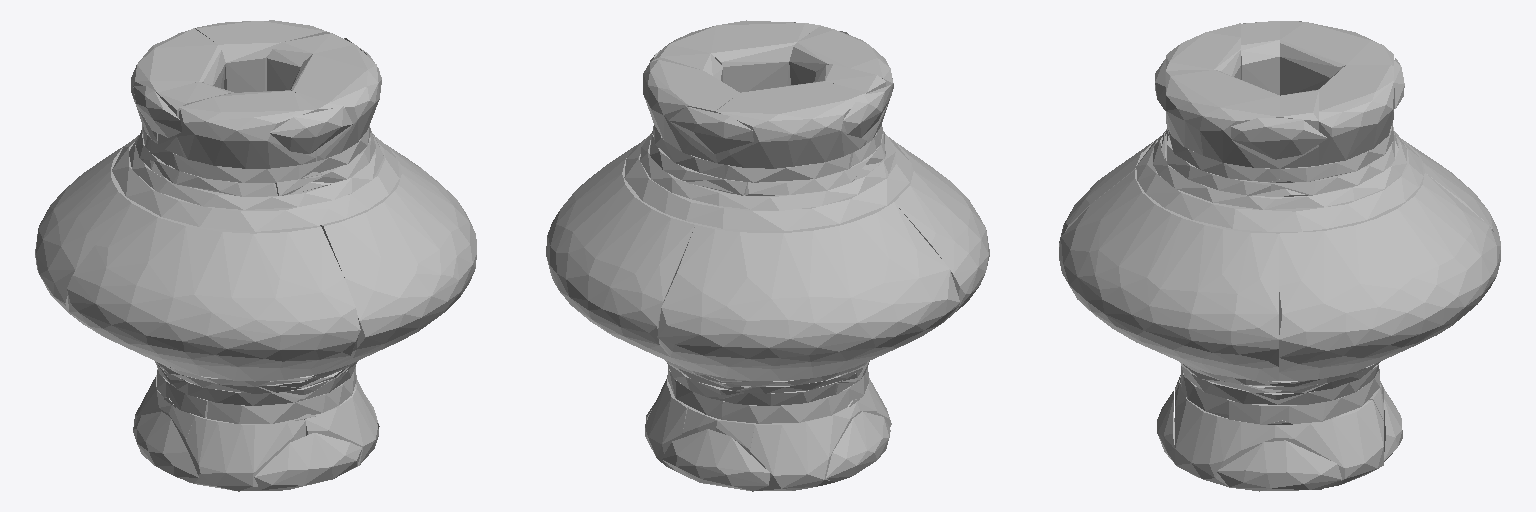
--- Facts derived from the render (not from the file) ---
3 views of the same robot in one strip: view 1: azimuth 30°, elevation 25°; view 2: azimuth 150°, elevation 25°; view 3: azimuth 270°, elevation 25° (orthographic).
Model root with 77 links and 76 joints (76 fixed), rooted at link_Vase_W_Hole_convex_piece_0, posed every joint at zero.
Visible links, largest first — view 1: link_Vase_W_Hole_convex_piece_56, link_Vase_W_Hole_convex_piece_55, link_Vase_W_Hole_convex_piece_11, link_Vase_W_Hole_convex_piece_66, link_Vase_W_Hole_convex_piece_54, link_Vase_W_Hole_convex_piece_37, link_Vase_W_Hole_convex_piece_21, link_Vase_W_Hole_convex_piece_8, link_Vase_W_Hole_convex_piece_20, link_Vase_W_Hole_convex_piece_65, link_Vase_W_Hole_convex_piece_76, link_Vase_W_Hole_convex_piece_35 (+15 smaller); view 2: link_Vase_W_Hole_convex_piece_54, link_Vase_W_Hole_convex_piece_53, link_Vase_W_Hole_convex_piece_20, link_Vase_W_Hole_convex_piece_66, link_Vase_W_Hole_convex_piece_56, link_Vase_W_Hole_convex_piece_21, link_Vase_W_Hole_convex_piece_33, link_Vase_W_Hole_convex_piece_8, link_Vase_W_Hole_convex_piece_61, link_Vase_W_Hole_convex_piece_65, link_Vase_W_Hole_convex_piece_11, link_Vase_W_Hole_convex_piece_75 (+16 smaller); view 3: link_Vase_W_Hole_convex_piece_53, link_Vase_W_Hole_convex_piece_55, link_Vase_W_Hole_convex_piece_21, link_Vase_W_Hole_convex_piece_66, link_Vase_W_Hole_convex_piece_8, link_Vase_W_Hole_convex_piece_20, link_Vase_W_Hole_convex_piece_30, link_Vase_W_Hole_convex_piece_71, link_Vase_W_Hole_convex_piece_35, link_Vase_W_Hole_convex_piece_65, link_Vase_W_Hole_convex_piece_50, link_Vase_W_Hole_convex_piece_11 (+18 smaller).
Boxes of the visible links, left/top/right/bottom form: link_Vase_W_Hole_convex_piece_56: left=67, top=202, right=360, bottom=381; link_Vase_W_Hole_convex_piece_55: left=315, top=146, right=476, bottom=374; link_Vase_W_Hole_convex_piece_11: left=177, top=90, right=316, bottom=168; link_Vase_W_Hole_convex_piece_66: left=112, top=135, right=399, bottom=231; link_Vase_W_Hole_convex_piece_54: left=35, top=144, right=133, bottom=321; link_Vase_W_Hole_convex_piece_37: left=186, top=416, right=305, bottom=491; link_Vase_W_Hole_convex_piece_21: left=290, top=45, right=381, bottom=160; link_Vase_W_Hole_convex_piece_8: left=195, top=20, right=332, bottom=92; link_Vase_W_Hole_convex_piece_20: left=131, top=28, right=225, bottom=143; link_Vase_W_Hole_convex_piece_65: left=129, top=133, right=383, bottom=209; link_Vase_W_Hole_convex_piece_76: left=254, top=433, right=361, bottom=490; link_Vase_W_Hole_convex_piece_35: left=304, top=380, right=378, bottom=470; link_Vase_W_Hole_convex_piece_54: left=657, top=202, right=959, bottom=380; link_Vase_W_Hole_convex_piece_53: left=546, top=143, right=700, bottom=372; link_Vase_W_Hole_convex_piece_20: left=716, top=81, right=866, bottom=168; link_Vase_W_Hole_convex_piece_66: left=624, top=135, right=911, bottom=231; link_Vase_W_Hole_convex_piece_56: left=891, top=141, right=989, bottom=322; link_Vase_W_Hole_convex_piece_21: left=670, top=20, right=820, bottom=92; link_Vase_W_Hole_convex_piece_33: left=750, top=402, right=859, bottom=491; link_Vase_W_Hole_convex_piece_8: left=643, top=60, right=739, bottom=162; link_Vase_W_Hole_convex_piece_61: left=661, top=429, right=769, bottom=490; link_Vase_W_Hole_convex_piece_65: left=640, top=133, right=895, bottom=210; link_Vase_W_Hole_convex_piece_11: left=789, top=26, right=893, bottom=128; link_Vase_W_Hole_convex_piece_75: left=826, top=411, right=890, bottom=481; link_Vase_W_Hole_convex_piece_53: left=1279, top=172, right=1500, bottom=380; link_Vase_W_Hole_convex_piece_55: left=1059, top=170, right=1278, bottom=380; link_Vase_W_Hole_convex_piece_21: left=1166, top=70, right=1279, bottom=168; link_Vase_W_Hole_convex_piece_66: left=1136, top=136, right=1423, bottom=231; link_Vase_W_Hole_convex_piece_8: left=1319, top=65, right=1393, bottom=164; link_Vase_W_Hole_convex_piece_20: left=1280, top=21, right=1393, bottom=95; link_Vase_W_Hole_convex_piece_30: left=1275, top=400, right=1383, bottom=487; link_Vase_W_Hole_convex_piece_71: left=1217, top=440, right=1341, bottom=491; link_Vase_W_Hole_convex_piece_35: left=1175, top=383, right=1240, bottom=488; link_Vase_W_Hole_convex_piece_65: left=1153, top=131, right=1406, bottom=209; link_Vase_W_Hole_convex_piece_50: left=1231, top=118, right=1327, bottom=159; link_Vase_W_Hole_convex_piece_11: left=1166, top=23, right=1240, bottom=79.
Size in the robot's own frame: 0.0812 by 0.0812 by 0.0765 metres.
Meshes: 77 distinct files referenced, 77 mesh visuals loaded (77 OBJ).

The robot description file, URDF, robot "root":
<robot name="root">
  <link name="link_Vase_W_Hole_convex_piece_0">
    <inertial>
      <origin xyz="0 0 0" rpy="0 0 0"/>
      <mass value="8.44E-04"/>
      <inertia ixx="5.04E-07" ixy="-3.55E-08" ixz="-1.19E-07" iyy="4.81E-07" iyz="-1.74E-07" izz="1.88E-07"/>
    </inertial>
    <visual>
      <origin xyz="0 0 0" rpy="0 0 0"/>
      <geometry>
        <mesh filename="Vase_W_Hole_convex_piece_0.obj" scale="1.0000E+00 1.0000E+00 1.0000E+00"/>
      </geometry>
      <material name="">
        <color rgba="7.50E-01 7.50E-01 7.50E-01 1"/>
      </material>
    </visual>
    <collision>
      <origin xyz="0 0 0" rpy="0 0 0"/>
      <geometry>
        <mesh filename="Vase_W_Hole_convex_piece_0.obj" scale="1.0000E+00 1.0000E+00 1.0000E+00"/>
      </geometry>
    </collision>
  </link>
  <link name="link_Vase_W_Hole_convex_piece_1">
    <inertial>
      <origin xyz="0 0 0" rpy="0 0 0"/>
      <mass value="7.55E-04"/>
      <inertia ixx="4.61E-07" ixy="3.69E-08" ixz="-9.77E-08" iyy="4.24E-07" iyz="1.74E-07" izz="1.72E-07"/>
    </inertial>
    <visual>
      <origin xyz="0 0 0" rpy="0 0 0"/>
      <geometry>
        <mesh filename="Vase_W_Hole_convex_piece_1.obj" scale="1.0000E+00 1.0000E+00 1.0000E+00"/>
      </geometry>
      <material name="">
        <color rgba="7.50E-01 7.50E-01 7.50E-01 1"/>
      </material>
    </visual>
    <collision>
      <origin xyz="0 0 0" rpy="0 0 0"/>
      <geometry>
        <mesh filename="Vase_W_Hole_convex_piece_1.obj" scale="1.0000E+00 1.0000E+00 1.0000E+00"/>
      </geometry>
    </collision>
  </link>
  <joint name="link_Vase_W_Hole_convex_piece_1_joint" type="fixed">
    <origin xyz="0 0 0" rpy="0 0 0"/>
    <parent link="link_Vase_W_Hole_convex_piece_0"/>
    <child link="link_Vase_W_Hole_convex_piece_1"/>
  </joint>
  <link name="link_Vase_W_Hole_convex_piece_2">
    <inertial>
      <origin xyz="0 0 0" rpy="0 0 0"/>
      <mass value="8.10E-04"/>
      <inertia ixx="3.17E-07" ixy="-4.43E-08" ixz="1.46E-07" iyy="3.54E-07" iyz="9.38E-08" izz="1.94E-07"/>
    </inertial>
    <visual>
      <origin xyz="0 0 0" rpy="0 0 0"/>
      <geometry>
        <mesh filename="Vase_W_Hole_convex_piece_2.obj" scale="1.0000E+00 1.0000E+00 1.0000E+00"/>
      </geometry>
      <material name="">
        <color rgba="7.50E-01 7.50E-01 7.50E-01 1"/>
      </material>
    </visual>
    <collision>
      <origin xyz="0 0 0" rpy="0 0 0"/>
      <geometry>
        <mesh filename="Vase_W_Hole_convex_piece_2.obj" scale="1.0000E+00 1.0000E+00 1.0000E+00"/>
      </geometry>
    </collision>
  </link>
  <joint name="link_Vase_W_Hole_convex_piece_2_joint" type="fixed">
    <origin xyz="0 0 0" rpy="0 0 0"/>
    <parent link="link_Vase_W_Hole_convex_piece_1"/>
    <child link="link_Vase_W_Hole_convex_piece_2"/>
  </joint>
  <link name="link_Vase_W_Hole_convex_piece_3">
    <inertial>
      <origin xyz="0 0 0" rpy="0 0 0"/>
      <mass value="8.32E-04"/>
      <inertia ixx="3.29E-07" ixy="4.44E-08" ixz="-1.44E-07" iyy="3.58E-07" iyz="1.00E-07" izz="1.98E-07"/>
    </inertial>
    <visual>
      <origin xyz="0 0 0" rpy="0 0 0"/>
      <geometry>
        <mesh filename="Vase_W_Hole_convex_piece_3.obj" scale="1.0000E+00 1.0000E+00 1.0000E+00"/>
      </geometry>
      <material name="">
        <color rgba="7.50E-01 7.50E-01 7.50E-01 1"/>
      </material>
    </visual>
    <collision>
      <origin xyz="0 0 0" rpy="0 0 0"/>
      <geometry>
        <mesh filename="Vase_W_Hole_convex_piece_3.obj" scale="1.0000E+00 1.0000E+00 1.0000E+00"/>
      </geometry>
    </collision>
  </link>
  <joint name="link_Vase_W_Hole_convex_piece_3_joint" type="fixed">
    <origin xyz="0 0 0" rpy="0 0 0"/>
    <parent link="link_Vase_W_Hole_convex_piece_2"/>
    <child link="link_Vase_W_Hole_convex_piece_3"/>
  </joint>
  <link name="link_Vase_W_Hole_convex_piece_4">
    <inertial>
      <origin xyz="0 0 0" rpy="0 0 0"/>
      <mass value="1.87E-03"/>
      <inertia ixx="8.79E-07" ixy="-1.06E-09" ixz="-4.22E-09" iyy="8.86E-07" iyz="6.36E-09" izz="3.57E-07"/>
    </inertial>
    <visual>
      <origin xyz="0 0 0" rpy="0 0 0"/>
      <geometry>
        <mesh filename="Vase_W_Hole_convex_piece_4.obj" scale="1.0000E+00 1.0000E+00 1.0000E+00"/>
      </geometry>
      <material name="">
        <color rgba="7.50E-01 7.50E-01 7.50E-01 1"/>
      </material>
    </visual>
    <collision>
      <origin xyz="0 0 0" rpy="0 0 0"/>
      <geometry>
        <mesh filename="Vase_W_Hole_convex_piece_4.obj" scale="1.0000E+00 1.0000E+00 1.0000E+00"/>
      </geometry>
    </collision>
  </link>
  <joint name="link_Vase_W_Hole_convex_piece_4_joint" type="fixed">
    <origin xyz="0 0 0" rpy="0 0 0"/>
    <parent link="link_Vase_W_Hole_convex_piece_3"/>
    <child link="link_Vase_W_Hole_convex_piece_4"/>
  </joint>
  <link name="link_Vase_W_Hole_convex_piece_5">
    <inertial>
      <origin xyz="0 0 0" rpy="0 0 0"/>
      <mass value="2.19E-05"/>
      <inertia ixx="1.59E-08" ixy="-1.87E-10" ixz="-1.84E-10" iyy="8.58E-09" iyz="-7.93E-09" izz="8.03E-09"/>
    </inertial>
    <visual>
      <origin xyz="0 0 0" rpy="0 0 0"/>
      <geometry>
        <mesh filename="Vase_W_Hole_convex_piece_5.obj" scale="1.0000E+00 1.0000E+00 1.0000E+00"/>
      </geometry>
      <material name="">
        <color rgba="7.50E-01 7.50E-01 7.50E-01 1"/>
      </material>
    </visual>
    <collision>
      <origin xyz="0 0 0" rpy="0 0 0"/>
      <geometry>
        <mesh filename="Vase_W_Hole_convex_piece_5.obj" scale="1.0000E+00 1.0000E+00 1.0000E+00"/>
      </geometry>
    </collision>
  </link>
  <joint name="link_Vase_W_Hole_convex_piece_5_joint" type="fixed">
    <origin xyz="0 0 0" rpy="0 0 0"/>
    <parent link="link_Vase_W_Hole_convex_piece_4"/>
    <child link="link_Vase_W_Hole_convex_piece_5"/>
  </joint>
  <link name="link_Vase_W_Hole_convex_piece_6">
    <inertial>
      <origin xyz="0 0 0" rpy="0 0 0"/>
      <mass value="7.42E-04"/>
      <inertia ixx="4.57E-07" ixy="6.72E-10" ixz="-1.57E-09" iyy="4.14E-07" iyz="1.78E-07" izz="1.50E-07"/>
    </inertial>
    <visual>
      <origin xyz="0 0 0" rpy="0 0 0"/>
      <geometry>
        <mesh filename="Vase_W_Hole_convex_piece_6.obj" scale="1.0000E+00 1.0000E+00 1.0000E+00"/>
      </geometry>
      <material name="">
        <color rgba="7.50E-01 7.50E-01 7.50E-01 1"/>
      </material>
    </visual>
    <collision>
      <origin xyz="0 0 0" rpy="0 0 0"/>
      <geometry>
        <mesh filename="Vase_W_Hole_convex_piece_6.obj" scale="1.0000E+00 1.0000E+00 1.0000E+00"/>
      </geometry>
    </collision>
  </link>
  <joint name="link_Vase_W_Hole_convex_piece_6_joint" type="fixed">
    <origin xyz="0 0 0" rpy="0 0 0"/>
    <parent link="link_Vase_W_Hole_convex_piece_5"/>
    <child link="link_Vase_W_Hole_convex_piece_6"/>
  </joint>
  <link name="link_Vase_W_Hole_convex_piece_7">
    <inertial>
      <origin xyz="0 0 0" rpy="0 0 0"/>
      <mass value="1.60E-03"/>
      <inertia ixx="8.81E-07" ixy="-3.43E-10" ixz="4.03E-10" iyy="9.24E-07" iyz="-1.78E-07" izz="2.52E-07"/>
    </inertial>
    <visual>
      <origin xyz="0 0 0" rpy="0 0 0"/>
      <geometry>
        <mesh filename="Vase_W_Hole_convex_piece_7.obj" scale="1.0000E+00 1.0000E+00 1.0000E+00"/>
      </geometry>
      <material name="">
        <color rgba="7.50E-01 7.50E-01 7.50E-01 1"/>
      </material>
    </visual>
    <collision>
      <origin xyz="0 0 0" rpy="0 0 0"/>
      <geometry>
        <mesh filename="Vase_W_Hole_convex_piece_7.obj" scale="1.0000E+00 1.0000E+00 1.0000E+00"/>
      </geometry>
    </collision>
  </link>
  <joint name="link_Vase_W_Hole_convex_piece_7_joint" type="fixed">
    <origin xyz="0 0 0" rpy="0 0 0"/>
    <parent link="link_Vase_W_Hole_convex_piece_6"/>
    <child link="link_Vase_W_Hole_convex_piece_7"/>
  </joint>
  <link name="link_Vase_W_Hole_convex_piece_8">
    <inertial>
      <origin xyz="0 0 0" rpy="0 0 0"/>
      <mass value="1.74E-03"/>
      <inertia ixx="2.05E-06" ixy="-1.79E-07" ixz="-4.49E-07" iyy="1.88E-06" iyz="-7.28E-07" izz="5.07E-07"/>
    </inertial>
    <visual>
      <origin xyz="0 0 0" rpy="0 0 0"/>
      <geometry>
        <mesh filename="Vase_W_Hole_convex_piece_8.obj" scale="1.0000E+00 1.0000E+00 1.0000E+00"/>
      </geometry>
      <material name="">
        <color rgba="7.50E-01 7.50E-01 7.50E-01 1"/>
      </material>
    </visual>
    <collision>
      <origin xyz="0 0 0" rpy="0 0 0"/>
      <geometry>
        <mesh filename="Vase_W_Hole_convex_piece_8.obj" scale="1.0000E+00 1.0000E+00 1.0000E+00"/>
      </geometry>
    </collision>
  </link>
  <joint name="link_Vase_W_Hole_convex_piece_8_joint" type="fixed">
    <origin xyz="0 0 0" rpy="0 0 0"/>
    <parent link="link_Vase_W_Hole_convex_piece_7"/>
    <child link="link_Vase_W_Hole_convex_piece_8"/>
  </joint>
  <link name="link_Vase_W_Hole_convex_piece_9">
    <inertial>
      <origin xyz="0 0 0" rpy="0 0 0"/>
      <mass value="6.96E-04"/>
      <inertia ixx="6.90E-07" ixy="-3.64E-08" ixz="-3.11E-07" iyy="8.31E-07" iyz="-8.00E-08" izz="1.66E-07"/>
    </inertial>
    <visual>
      <origin xyz="0 0 0" rpy="0 0 0"/>
      <geometry>
        <mesh filename="Vase_W_Hole_convex_piece_9.obj" scale="1.0000E+00 1.0000E+00 1.0000E+00"/>
      </geometry>
      <material name="">
        <color rgba="7.50E-01 7.50E-01 7.50E-01 1"/>
      </material>
    </visual>
    <collision>
      <origin xyz="0 0 0" rpy="0 0 0"/>
      <geometry>
        <mesh filename="Vase_W_Hole_convex_piece_9.obj" scale="1.0000E+00 1.0000E+00 1.0000E+00"/>
      </geometry>
    </collision>
  </link>
  <joint name="link_Vase_W_Hole_convex_piece_9_joint" type="fixed">
    <origin xyz="0 0 0" rpy="0 0 0"/>
    <parent link="link_Vase_W_Hole_convex_piece_8"/>
    <child link="link_Vase_W_Hole_convex_piece_9"/>
  </joint>
  <link name="link_Vase_W_Hole_convex_piece_10">
    <inertial>
      <origin xyz="0 0 0" rpy="0 0 0"/>
      <mass value="6.98E-04"/>
      <inertia ixx="6.92E-07" ixy="-3.66E-08" ixz="3.13E-07" iyy="8.34E-07" iyz="8.03E-08" izz="1.67E-07"/>
    </inertial>
    <visual>
      <origin xyz="0 0 0" rpy="0 0 0"/>
      <geometry>
        <mesh filename="Vase_W_Hole_convex_piece_10.obj" scale="1.0000E+00 1.0000E+00 1.0000E+00"/>
      </geometry>
      <material name="">
        <color rgba="7.50E-01 7.50E-01 7.50E-01 1"/>
      </material>
    </visual>
    <collision>
      <origin xyz="0 0 0" rpy="0 0 0"/>
      <geometry>
        <mesh filename="Vase_W_Hole_convex_piece_10.obj" scale="1.0000E+00 1.0000E+00 1.0000E+00"/>
      </geometry>
    </collision>
  </link>
  <joint name="link_Vase_W_Hole_convex_piece_10_joint" type="fixed">
    <origin xyz="0 0 0" rpy="0 0 0"/>
    <parent link="link_Vase_W_Hole_convex_piece_9"/>
    <child link="link_Vase_W_Hole_convex_piece_10"/>
  </joint>
  <link name="link_Vase_W_Hole_convex_piece_11">
    <inertial>
      <origin xyz="0 0 0" rpy="0 0 0"/>
      <mass value="1.73E-03"/>
      <inertia ixx="2.04E-06" ixy="-1.81E-07" ixz="4.53E-07" iyy="1.87E-06" iyz="7.25E-07" izz="5.08E-07"/>
    </inertial>
    <visual>
      <origin xyz="0 0 0" rpy="0 0 0"/>
      <geometry>
        <mesh filename="Vase_W_Hole_convex_piece_11.obj" scale="1.0000E+00 1.0000E+00 1.0000E+00"/>
      </geometry>
      <material name="">
        <color rgba="7.50E-01 7.50E-01 7.50E-01 1"/>
      </material>
    </visual>
    <collision>
      <origin xyz="0 0 0" rpy="0 0 0"/>
      <geometry>
        <mesh filename="Vase_W_Hole_convex_piece_11.obj" scale="1.0000E+00 1.0000E+00 1.0000E+00"/>
      </geometry>
    </collision>
  </link>
  <joint name="link_Vase_W_Hole_convex_piece_11_joint" type="fixed">
    <origin xyz="0 0 0" rpy="0 0 0"/>
    <parent link="link_Vase_W_Hole_convex_piece_10"/>
    <child link="link_Vase_W_Hole_convex_piece_11"/>
  </joint>
  <link name="link_Vase_W_Hole_convex_piece_12">
    <inertial>
      <origin xyz="0 0 0" rpy="0 0 0"/>
      <mass value="7.12E-04"/>
      <inertia ixx="4.01E-07" ixy="4.83E-10" ixz="2.02E-07" iyy="4.67E-07" iyz="-1.14E-09" izz="1.97E-07"/>
    </inertial>
    <visual>
      <origin xyz="0 0 0" rpy="0 0 0"/>
      <geometry>
        <mesh filename="Vase_W_Hole_convex_piece_12.obj" scale="1.0000E+00 1.0000E+00 1.0000E+00"/>
      </geometry>
      <material name="">
        <color rgba="7.50E-01 7.50E-01 7.50E-01 1"/>
      </material>
    </visual>
    <collision>
      <origin xyz="0 0 0" rpy="0 0 0"/>
      <geometry>
        <mesh filename="Vase_W_Hole_convex_piece_12.obj" scale="1.0000E+00 1.0000E+00 1.0000E+00"/>
      </geometry>
    </collision>
  </link>
  <joint name="link_Vase_W_Hole_convex_piece_12_joint" type="fixed">
    <origin xyz="0 0 0" rpy="0 0 0"/>
    <parent link="link_Vase_W_Hole_convex_piece_11"/>
    <child link="link_Vase_W_Hole_convex_piece_12"/>
  </joint>
  <link name="link_Vase_W_Hole_convex_piece_13">
    <inertial>
      <origin xyz="0 0 0" rpy="0 0 0"/>
      <mass value="8.33E-04"/>
      <inertia ixx="3.93E-07" ixy="-2.53E-10" ixz="-6.26E-11" iyy="3.32E-07" iyz="-1.81E-07" izz="2.36E-07"/>
    </inertial>
    <visual>
      <origin xyz="0 0 0" rpy="0 0 0"/>
      <geometry>
        <mesh filename="Vase_W_Hole_convex_piece_13.obj" scale="1.0000E+00 1.0000E+00 1.0000E+00"/>
      </geometry>
      <material name="">
        <color rgba="7.50E-01 7.50E-01 7.50E-01 1"/>
      </material>
    </visual>
    <collision>
      <origin xyz="0 0 0" rpy="0 0 0"/>
      <geometry>
        <mesh filename="Vase_W_Hole_convex_piece_13.obj" scale="1.0000E+00 1.0000E+00 1.0000E+00"/>
      </geometry>
    </collision>
  </link>
  <joint name="link_Vase_W_Hole_convex_piece_13_joint" type="fixed">
    <origin xyz="0 0 0" rpy="0 0 0"/>
    <parent link="link_Vase_W_Hole_convex_piece_12"/>
    <child link="link_Vase_W_Hole_convex_piece_13"/>
  </joint>
  <link name="link_Vase_W_Hole_convex_piece_14">
    <inertial>
      <origin xyz="0 0 0" rpy="0 0 0"/>
      <mass value="4.10E-06"/>
      <inertia ixx="1.57E-09" ixy="-9.29E-11" ixz="1.50E-09" iyy="3.00E-09" iyz="9.41E-11" izz="1.52E-09"/>
    </inertial>
    <visual>
      <origin xyz="0 0 0" rpy="0 0 0"/>
      <geometry>
        <mesh filename="Vase_W_Hole_convex_piece_14.obj" scale="1.0000E+00 1.0000E+00 1.0000E+00"/>
      </geometry>
      <material name="">
        <color rgba="7.50E-01 7.50E-01 7.50E-01 1"/>
      </material>
    </visual>
    <collision>
      <origin xyz="0 0 0" rpy="0 0 0"/>
      <geometry>
        <mesh filename="Vase_W_Hole_convex_piece_14.obj" scale="1.0000E+00 1.0000E+00 1.0000E+00"/>
      </geometry>
    </collision>
  </link>
  <joint name="link_Vase_W_Hole_convex_piece_14_joint" type="fixed">
    <origin xyz="0 0 0" rpy="0 0 0"/>
    <parent link="link_Vase_W_Hole_convex_piece_13"/>
    <child link="link_Vase_W_Hole_convex_piece_14"/>
  </joint>
  <link name="link_Vase_W_Hole_convex_piece_15">
    <inertial>
      <origin xyz="0 0 0" rpy="0 0 0"/>
      <mass value="8.77E-07"/>
      <inertia ixx="7.09E-10" ixy="-4.58E-12" ixz="-5.55E-12" iyy="4.21E-10" iyz="-3.48E-10" izz="2.94E-10"/>
    </inertial>
    <visual>
      <origin xyz="0 0 0" rpy="0 0 0"/>
      <geometry>
        <mesh filename="Vase_W_Hole_convex_piece_15.obj" scale="1.0000E+00 1.0000E+00 1.0000E+00"/>
      </geometry>
      <material name="">
        <color rgba="7.50E-01 7.50E-01 7.50E-01 1"/>
      </material>
    </visual>
    <collision>
      <origin xyz="0 0 0" rpy="0 0 0"/>
      <geometry>
        <mesh filename="Vase_W_Hole_convex_piece_15.obj" scale="1.0000E+00 1.0000E+00 1.0000E+00"/>
      </geometry>
    </collision>
  </link>
  <joint name="link_Vase_W_Hole_convex_piece_15_joint" type="fixed">
    <origin xyz="0 0 0" rpy="0 0 0"/>
    <parent link="link_Vase_W_Hole_convex_piece_14"/>
    <child link="link_Vase_W_Hole_convex_piece_15"/>
  </joint>
  <link name="link_Vase_W_Hole_convex_piece_16">
    <inertial>
      <origin xyz="0 0 0" rpy="0 0 0"/>
      <mass value="2.63E-04"/>
      <inertia ixx="1.76E-07" ixy="1.24E-08" ixz="8.67E-08" iyy="2.16E-07" iyz="-2.54E-08" izz="5.26E-08"/>
    </inertial>
    <visual>
      <origin xyz="0 0 0" rpy="0 0 0"/>
      <geometry>
        <mesh filename="Vase_W_Hole_convex_piece_16.obj" scale="1.0000E+00 1.0000E+00 1.0000E+00"/>
      </geometry>
      <material name="">
        <color rgba="7.50E-01 7.50E-01 7.50E-01 1"/>
      </material>
    </visual>
    <collision>
      <origin xyz="0 0 0" rpy="0 0 0"/>
      <geometry>
        <mesh filename="Vase_W_Hole_convex_piece_16.obj" scale="1.0000E+00 1.0000E+00 1.0000E+00"/>
      </geometry>
    </collision>
  </link>
  <joint name="link_Vase_W_Hole_convex_piece_16_joint" type="fixed">
    <origin xyz="0 0 0" rpy="0 0 0"/>
    <parent link="link_Vase_W_Hole_convex_piece_15"/>
    <child link="link_Vase_W_Hole_convex_piece_16"/>
  </joint>
  <link name="link_Vase_W_Hole_convex_piece_17">
    <inertial>
      <origin xyz="0 0 0" rpy="0 0 0"/>
      <mass value="2.42E-05"/>
      <inertia ixx="1.72E-08" ixy="1.08E-09" ixz="3.36E-09" iyy="1.64E-08" iyz="-5.04E-09" izz="2.41E-09"/>
    </inertial>
    <visual>
      <origin xyz="0 0 0" rpy="0 0 0"/>
      <geometry>
        <mesh filename="Vase_W_Hole_convex_piece_17.obj" scale="1.0000E+00 1.0000E+00 1.0000E+00"/>
      </geometry>
      <material name="">
        <color rgba="7.50E-01 7.50E-01 7.50E-01 1"/>
      </material>
    </visual>
    <collision>
      <origin xyz="0 0 0" rpy="0 0 0"/>
      <geometry>
        <mesh filename="Vase_W_Hole_convex_piece_17.obj" scale="1.0000E+00 1.0000E+00 1.0000E+00"/>
      </geometry>
    </collision>
  </link>
  <joint name="link_Vase_W_Hole_convex_piece_17_joint" type="fixed">
    <origin xyz="0 0 0" rpy="0 0 0"/>
    <parent link="link_Vase_W_Hole_convex_piece_16"/>
    <child link="link_Vase_W_Hole_convex_piece_17"/>
  </joint>
  <link name="link_Vase_W_Hole_convex_piece_18">
    <inertial>
      <origin xyz="0 0 0" rpy="0 0 0"/>
      <mass value="2.42E-05"/>
      <inertia ixx="1.73E-08" ixy="-1.08E-09" ixz="-3.38E-09" iyy="1.64E-08" iyz="-5.03E-09" izz="2.41E-09"/>
    </inertial>
    <visual>
      <origin xyz="0 0 0" rpy="0 0 0"/>
      <geometry>
        <mesh filename="Vase_W_Hole_convex_piece_18.obj" scale="1.0000E+00 1.0000E+00 1.0000E+00"/>
      </geometry>
      <material name="">
        <color rgba="7.50E-01 7.50E-01 7.50E-01 1"/>
      </material>
    </visual>
    <collision>
      <origin xyz="0 0 0" rpy="0 0 0"/>
      <geometry>
        <mesh filename="Vase_W_Hole_convex_piece_18.obj" scale="1.0000E+00 1.0000E+00 1.0000E+00"/>
      </geometry>
    </collision>
  </link>
  <joint name="link_Vase_W_Hole_convex_piece_18_joint" type="fixed">
    <origin xyz="0 0 0" rpy="0 0 0"/>
    <parent link="link_Vase_W_Hole_convex_piece_17"/>
    <child link="link_Vase_W_Hole_convex_piece_18"/>
  </joint>
  <link name="link_Vase_W_Hole_convex_piece_19">
    <inertial>
      <origin xyz="0 0 0" rpy="0 0 0"/>
      <mass value="2.62E-04"/>
      <inertia ixx="1.75E-07" ixy="-1.23E-08" ixz="-8.64E-08" iyy="2.15E-07" iyz="-2.51E-08" izz="5.24E-08"/>
    </inertial>
    <visual>
      <origin xyz="0 0 0" rpy="0 0 0"/>
      <geometry>
        <mesh filename="Vase_W_Hole_convex_piece_19.obj" scale="1.0000E+00 1.0000E+00 1.0000E+00"/>
      </geometry>
      <material name="">
        <color rgba="7.50E-01 7.50E-01 7.50E-01 1"/>
      </material>
    </visual>
    <collision>
      <origin xyz="0 0 0" rpy="0 0 0"/>
      <geometry>
        <mesh filename="Vase_W_Hole_convex_piece_19.obj" scale="1.0000E+00 1.0000E+00 1.0000E+00"/>
      </geometry>
    </collision>
  </link>
  <joint name="link_Vase_W_Hole_convex_piece_19_joint" type="fixed">
    <origin xyz="0 0 0" rpy="0 0 0"/>
    <parent link="link_Vase_W_Hole_convex_piece_18"/>
    <child link="link_Vase_W_Hole_convex_piece_19"/>
  </joint>
  <link name="link_Vase_W_Hole_convex_piece_20">
    <inertial>
      <origin xyz="0 0 0" rpy="0 0 0"/>
      <mass value="2.35E-03"/>
      <inertia ixx="2.62E-06" ixy="2.19E-07" ixz="7.85E-07" iyy="2.64E-06" iyz="-7.36E-07" izz="6.39E-07"/>
    </inertial>
    <visual>
      <origin xyz="0 0 0" rpy="0 0 0"/>
      <geometry>
        <mesh filename="Vase_W_Hole_convex_piece_20.obj" scale="1.0000E+00 1.0000E+00 1.0000E+00"/>
      </geometry>
      <material name="">
        <color rgba="7.50E-01 7.50E-01 7.50E-01 1"/>
      </material>
    </visual>
    <collision>
      <origin xyz="0 0 0" rpy="0 0 0"/>
      <geometry>
        <mesh filename="Vase_W_Hole_convex_piece_20.obj" scale="1.0000E+00 1.0000E+00 1.0000E+00"/>
      </geometry>
    </collision>
  </link>
  <joint name="link_Vase_W_Hole_convex_piece_20_joint" type="fixed">
    <origin xyz="0 0 0" rpy="0 0 0"/>
    <parent link="link_Vase_W_Hole_convex_piece_19"/>
    <child link="link_Vase_W_Hole_convex_piece_20"/>
  </joint>
  <link name="link_Vase_W_Hole_convex_piece_21">
    <inertial>
      <origin xyz="0 0 0" rpy="0 0 0"/>
      <mass value="2.38E-03"/>
      <inertia ixx="2.65E-06" ixy="2.20E-07" ixz="-7.86E-07" iyy="2.67E-06" iyz="7.47E-07" izz="6.43E-07"/>
    </inertial>
    <visual>
      <origin xyz="0 0 0" rpy="0 0 0"/>
      <geometry>
        <mesh filename="Vase_W_Hole_convex_piece_21.obj" scale="1.0000E+00 1.0000E+00 1.0000E+00"/>
      </geometry>
      <material name="">
        <color rgba="7.50E-01 7.50E-01 7.50E-01 1"/>
      </material>
    </visual>
    <collision>
      <origin xyz="0 0 0" rpy="0 0 0"/>
      <geometry>
        <mesh filename="Vase_W_Hole_convex_piece_21.obj" scale="1.0000E+00 1.0000E+00 1.0000E+00"/>
      </geometry>
    </collision>
  </link>
  <joint name="link_Vase_W_Hole_convex_piece_21_joint" type="fixed">
    <origin xyz="0 0 0" rpy="0 0 0"/>
    <parent link="link_Vase_W_Hole_convex_piece_20"/>
    <child link="link_Vase_W_Hole_convex_piece_21"/>
  </joint>
  <link name="link_Vase_W_Hole_convex_piece_22">
    <inertial>
      <origin xyz="0 0 0" rpy="0 0 0"/>
      <mass value="6.95E-04"/>
      <inertia ixx="5.01E-07" ixy="-4.55E-08" ixz="-1.40E-07" iyy="4.85E-07" iyz="-1.69E-07" izz="1.63E-07"/>
    </inertial>
    <visual>
      <origin xyz="0 0 0" rpy="0 0 0"/>
      <geometry>
        <mesh filename="Vase_W_Hole_convex_piece_22.obj" scale="1.0000E+00 1.0000E+00 1.0000E+00"/>
      </geometry>
      <material name="">
        <color rgba="7.50E-01 7.50E-01 7.50E-01 1"/>
      </material>
    </visual>
    <collision>
      <origin xyz="0 0 0" rpy="0 0 0"/>
      <geometry>
        <mesh filename="Vase_W_Hole_convex_piece_22.obj" scale="1.0000E+00 1.0000E+00 1.0000E+00"/>
      </geometry>
    </collision>
  </link>
  <joint name="link_Vase_W_Hole_convex_piece_22_joint" type="fixed">
    <origin xyz="0 0 0" rpy="0 0 0"/>
    <parent link="link_Vase_W_Hole_convex_piece_21"/>
    <child link="link_Vase_W_Hole_convex_piece_22"/>
  </joint>
  <link name="link_Vase_W_Hole_convex_piece_23">
    <inertial>
      <origin xyz="0 0 0" rpy="0 0 0"/>
      <mass value="6.91E-04"/>
      <inertia ixx="4.97E-07" ixy="4.52E-08" ixz="-1.40E-07" iyy="4.82E-07" iyz="1.67E-07" izz="1.62E-07"/>
    </inertial>
    <visual>
      <origin xyz="0 0 0" rpy="0 0 0"/>
      <geometry>
        <mesh filename="Vase_W_Hole_convex_piece_23.obj" scale="1.0000E+00 1.0000E+00 1.0000E+00"/>
      </geometry>
      <material name="">
        <color rgba="7.50E-01 7.50E-01 7.50E-01 1"/>
      </material>
    </visual>
    <collision>
      <origin xyz="0 0 0" rpy="0 0 0"/>
      <geometry>
        <mesh filename="Vase_W_Hole_convex_piece_23.obj" scale="1.0000E+00 1.0000E+00 1.0000E+00"/>
      </geometry>
    </collision>
  </link>
  <joint name="link_Vase_W_Hole_convex_piece_23_joint" type="fixed">
    <origin xyz="0 0 0" rpy="0 0 0"/>
    <parent link="link_Vase_W_Hole_convex_piece_22"/>
    <child link="link_Vase_W_Hole_convex_piece_23"/>
  </joint>
  <link name="link_Vase_W_Hole_convex_piece_24">
    <inertial>
      <origin xyz="0 0 0" rpy="0 0 0"/>
      <mass value="1.92E-06"/>
      <inertia ixx="8.46E-10" ixy="-1.84E-11" ixz="-8.62E-10" iyy="1.72E-09" iyz="-1.80E-11" izz="8.90E-10"/>
    </inertial>
    <visual>
      <origin xyz="0 0 0" rpy="0 0 0"/>
      <geometry>
        <mesh filename="Vase_W_Hole_convex_piece_24.obj" scale="1.0000E+00 1.0000E+00 1.0000E+00"/>
      </geometry>
      <material name="">
        <color rgba="7.50E-01 7.50E-01 7.50E-01 1"/>
      </material>
    </visual>
    <collision>
      <origin xyz="0 0 0" rpy="0 0 0"/>
      <geometry>
        <mesh filename="Vase_W_Hole_convex_piece_24.obj" scale="1.0000E+00 1.0000E+00 1.0000E+00"/>
      </geometry>
    </collision>
  </link>
  <joint name="link_Vase_W_Hole_convex_piece_24_joint" type="fixed">
    <origin xyz="0 0 0" rpy="0 0 0"/>
    <parent link="link_Vase_W_Hole_convex_piece_23"/>
    <child link="link_Vase_W_Hole_convex_piece_24"/>
  </joint>
  <link name="link_Vase_W_Hole_convex_piece_25">
    <inertial>
      <origin xyz="0 0 0" rpy="0 0 0"/>
      <mass value="7.88E-06"/>
      <inertia ixx="5.77E-09" ixy="3.43E-10" ixz="-2.68E-10" iyy="2.32E-09" iyz="2.80E-09" izz="3.71E-09"/>
    </inertial>
    <visual>
      <origin xyz="0 0 0" rpy="0 0 0"/>
      <geometry>
        <mesh filename="Vase_W_Hole_convex_piece_25.obj" scale="1.0000E+00 1.0000E+00 1.0000E+00"/>
      </geometry>
      <material name="">
        <color rgba="7.50E-01 7.50E-01 7.50E-01 1"/>
      </material>
    </visual>
    <collision>
      <origin xyz="0 0 0" rpy="0 0 0"/>
      <geometry>
        <mesh filename="Vase_W_Hole_convex_piece_25.obj" scale="1.0000E+00 1.0000E+00 1.0000E+00"/>
      </geometry>
    </collision>
  </link>
  <joint name="link_Vase_W_Hole_convex_piece_25_joint" type="fixed">
    <origin xyz="0 0 0" rpy="0 0 0"/>
    <parent link="link_Vase_W_Hole_convex_piece_24"/>
    <child link="link_Vase_W_Hole_convex_piece_25"/>
  </joint>
  <link name="link_Vase_W_Hole_convex_piece_26">
    <inertial>
      <origin xyz="0 0 0" rpy="0 0 0"/>
      <mass value="2.89E-06"/>
      <inertia ixx="2.10E-09" ixy="1.44E-10" ixz="-1.45E-10" iyy="1.10E-09" iyz="1.05E-09" izz="1.09E-09"/>
    </inertial>
    <visual>
      <origin xyz="0 0 0" rpy="0 0 0"/>
      <geometry>
        <mesh filename="Vase_W_Hole_convex_piece_26.obj" scale="1.0000E+00 1.0000E+00 1.0000E+00"/>
      </geometry>
      <material name="">
        <color rgba="7.50E-01 7.50E-01 7.50E-01 1"/>
      </material>
    </visual>
    <collision>
      <origin xyz="0 0 0" rpy="0 0 0"/>
      <geometry>
        <mesh filename="Vase_W_Hole_convex_piece_26.obj" scale="1.0000E+00 1.0000E+00 1.0000E+00"/>
      </geometry>
    </collision>
  </link>
  <joint name="link_Vase_W_Hole_convex_piece_26_joint" type="fixed">
    <origin xyz="0 0 0" rpy="0 0 0"/>
    <parent link="link_Vase_W_Hole_convex_piece_25"/>
    <child link="link_Vase_W_Hole_convex_piece_26"/>
  </joint>
  <link name="link_Vase_W_Hole_convex_piece_27">
    <inertial>
      <origin xyz="0 0 0" rpy="0 0 0"/>
      <mass value="8.77E-07"/>
      <inertia ixx="7.12E-10" ixy="4.60E-12" ixz="-5.55E-12" iyy="4.21E-10" iyz="3.50E-10" izz="2.97E-10"/>
    </inertial>
    <visual>
      <origin xyz="0 0 0" rpy="0 0 0"/>
      <geometry>
        <mesh filename="Vase_W_Hole_convex_piece_27.obj" scale="1.0000E+00 1.0000E+00 1.0000E+00"/>
      </geometry>
      <material name="">
        <color rgba="7.50E-01 7.50E-01 7.50E-01 1"/>
      </material>
    </visual>
    <collision>
      <origin xyz="0 0 0" rpy="0 0 0"/>
      <geometry>
        <mesh filename="Vase_W_Hole_convex_piece_27.obj" scale="1.0000E+00 1.0000E+00 1.0000E+00"/>
      </geometry>
    </collision>
  </link>
  <joint name="link_Vase_W_Hole_convex_piece_27_joint" type="fixed">
    <origin xyz="0 0 0" rpy="0 0 0"/>
    <parent link="link_Vase_W_Hole_convex_piece_26"/>
    <child link="link_Vase_W_Hole_convex_piece_27"/>
  </joint>
  <link name="link_Vase_W_Hole_convex_piece_28">
    <inertial>
      <origin xyz="0 0 0" rpy="0 0 0"/>
      <mass value="5.27E-04"/>
      <inertia ixx="3.99E-07" ixy="-3.42E-08" ixz="1.06E-07" iyy="3.85E-07" iyz="1.30E-07" izz="1.04E-07"/>
    </inertial>
    <visual>
      <origin xyz="0 0 0" rpy="0 0 0"/>
      <geometry>
        <mesh filename="Vase_W_Hole_convex_piece_28.obj" scale="1.0000E+00 1.0000E+00 1.0000E+00"/>
      </geometry>
      <material name="">
        <color rgba="7.50E-01 7.50E-01 7.50E-01 1"/>
      </material>
    </visual>
    <collision>
      <origin xyz="0 0 0" rpy="0 0 0"/>
      <geometry>
        <mesh filename="Vase_W_Hole_convex_piece_28.obj" scale="1.0000E+00 1.0000E+00 1.0000E+00"/>
      </geometry>
    </collision>
  </link>
  <joint name="link_Vase_W_Hole_convex_piece_28_joint" type="fixed">
    <origin xyz="0 0 0" rpy="0 0 0"/>
    <parent link="link_Vase_W_Hole_convex_piece_27"/>
    <child link="link_Vase_W_Hole_convex_piece_28"/>
  </joint>
  <link name="link_Vase_W_Hole_convex_piece_29">
    <inertial>
      <origin xyz="0 0 0" rpy="0 0 0"/>
      <mass value="4.52E-04"/>
      <inertia ixx="3.39E-07" ixy="3.36E-08" ixz="-1.04E-07" iyy="3.37E-07" iyz="1.08E-07" izz="9.32E-08"/>
    </inertial>
    <visual>
      <origin xyz="0 0 0" rpy="0 0 0"/>
      <geometry>
        <mesh filename="Vase_W_Hole_convex_piece_29.obj" scale="1.0000E+00 1.0000E+00 1.0000E+00"/>
      </geometry>
      <material name="">
        <color rgba="7.50E-01 7.50E-01 7.50E-01 1"/>
      </material>
    </visual>
    <collision>
      <origin xyz="0 0 0" rpy="0 0 0"/>
      <geometry>
        <mesh filename="Vase_W_Hole_convex_piece_29.obj" scale="1.0000E+00 1.0000E+00 1.0000E+00"/>
      </geometry>
    </collision>
  </link>
  <joint name="link_Vase_W_Hole_convex_piece_29_joint" type="fixed">
    <origin xyz="0 0 0" rpy="0 0 0"/>
    <parent link="link_Vase_W_Hole_convex_piece_28"/>
    <child link="link_Vase_W_Hole_convex_piece_29"/>
  </joint>
  <link name="link_Vase_W_Hole_convex_piece_30">
    <inertial>
      <origin xyz="0 0 0" rpy="0 0 0"/>
      <mass value="1.69E-03"/>
      <inertia ixx="2.12E-06" ixy="-1.63E-07" ixz="7.37E-07" iyy="2.27E-06" iyz="4.60E-07" izz="4.46E-07"/>
    </inertial>
    <visual>
      <origin xyz="0 0 0" rpy="0 0 0"/>
      <geometry>
        <mesh filename="Vase_W_Hole_convex_piece_30.obj" scale="1.0000E+00 1.0000E+00 1.0000E+00"/>
      </geometry>
      <material name="">
        <color rgba="7.50E-01 7.50E-01 7.50E-01 1"/>
      </material>
    </visual>
    <collision>
      <origin xyz="0 0 0" rpy="0 0 0"/>
      <geometry>
        <mesh filename="Vase_W_Hole_convex_piece_30.obj" scale="1.0000E+00 1.0000E+00 1.0000E+00"/>
      </geometry>
    </collision>
  </link>
  <joint name="link_Vase_W_Hole_convex_piece_30_joint" type="fixed">
    <origin xyz="0 0 0" rpy="0 0 0"/>
    <parent link="link_Vase_W_Hole_convex_piece_29"/>
    <child link="link_Vase_W_Hole_convex_piece_30"/>
  </joint>
  <link name="link_Vase_W_Hole_convex_piece_31">
    <inertial>
      <origin xyz="0 0 0" rpy="0 0 0"/>
      <mass value="6.99E-04"/>
      <inertia ixx="9.30E-07" ixy="-3.45E-08" ixz="8.80E-08" iyy="8.10E-07" iyz="3.15E-07" izz="1.46E-07"/>
    </inertial>
    <visual>
      <origin xyz="0 0 0" rpy="0 0 0"/>
      <geometry>
        <mesh filename="Vase_W_Hole_convex_piece_31.obj" scale="1.0000E+00 1.0000E+00 1.0000E+00"/>
      </geometry>
      <material name="">
        <color rgba="7.50E-01 7.50E-01 7.50E-01 1"/>
      </material>
    </visual>
    <collision>
      <origin xyz="0 0 0" rpy="0 0 0"/>
      <geometry>
        <mesh filename="Vase_W_Hole_convex_piece_31.obj" scale="1.0000E+00 1.0000E+00 1.0000E+00"/>
      </geometry>
    </collision>
  </link>
  <joint name="link_Vase_W_Hole_convex_piece_31_joint" type="fixed">
    <origin xyz="0 0 0" rpy="0 0 0"/>
    <parent link="link_Vase_W_Hole_convex_piece_30"/>
    <child link="link_Vase_W_Hole_convex_piece_31"/>
  </joint>
  <link name="link_Vase_W_Hole_convex_piece_32">
    <inertial>
      <origin xyz="0 0 0" rpy="0 0 0"/>
      <mass value="7.02E-04"/>
      <inertia ixx="9.33E-07" ixy="3.42E-08" ixz="-8.74E-08" iyy="8.12E-07" iyz="3.17E-07" izz="1.46E-07"/>
    </inertial>
    <visual>
      <origin xyz="0 0 0" rpy="0 0 0"/>
      <geometry>
        <mesh filename="Vase_W_Hole_convex_piece_32.obj" scale="1.0000E+00 1.0000E+00 1.0000E+00"/>
      </geometry>
      <material name="">
        <color rgba="7.50E-01 7.50E-01 7.50E-01 1"/>
      </material>
    </visual>
    <collision>
      <origin xyz="0 0 0" rpy="0 0 0"/>
      <geometry>
        <mesh filename="Vase_W_Hole_convex_piece_32.obj" scale="1.0000E+00 1.0000E+00 1.0000E+00"/>
      </geometry>
    </collision>
  </link>
  <joint name="link_Vase_W_Hole_convex_piece_32_joint" type="fixed">
    <origin xyz="0 0 0" rpy="0 0 0"/>
    <parent link="link_Vase_W_Hole_convex_piece_31"/>
    <child link="link_Vase_W_Hole_convex_piece_32"/>
  </joint>
  <link name="link_Vase_W_Hole_convex_piece_33">
    <inertial>
      <origin xyz="0 0 0" rpy="0 0 0"/>
      <mass value="1.67E-03"/>
      <inertia ixx="2.09E-06" ixy="1.61E-07" ixz="-7.23E-07" iyy="2.23E-06" iyz="4.56E-07" izz="4.39E-07"/>
    </inertial>
    <visual>
      <origin xyz="0 0 0" rpy="0 0 0"/>
      <geometry>
        <mesh filename="Vase_W_Hole_convex_piece_33.obj" scale="1.0000E+00 1.0000E+00 1.0000E+00"/>
      </geometry>
      <material name="">
        <color rgba="7.50E-01 7.50E-01 7.50E-01 1"/>
      </material>
    </visual>
    <collision>
      <origin xyz="0 0 0" rpy="0 0 0"/>
      <geometry>
        <mesh filename="Vase_W_Hole_convex_piece_33.obj" scale="1.0000E+00 1.0000E+00 1.0000E+00"/>
      </geometry>
    </collision>
  </link>
  <joint name="link_Vase_W_Hole_convex_piece_33_joint" type="fixed">
    <origin xyz="0 0 0" rpy="0 0 0"/>
    <parent link="link_Vase_W_Hole_convex_piece_32"/>
    <child link="link_Vase_W_Hole_convex_piece_33"/>
  </joint>
  <link name="link_Vase_W_Hole_convex_piece_34">
    <inertial>
      <origin xyz="0 0 0" rpy="0 0 0"/>
      <mass value="6.23E-04"/>
      <inertia ixx="7.24E-07" ixy="3.42E-08" ixz="2.83E-07" iyy="8.31E-07" iyz="-8.65E-08" izz="1.33E-07"/>
    </inertial>
    <visual>
      <origin xyz="0 0 0" rpy="0 0 0"/>
      <geometry>
        <mesh filename="Vase_W_Hole_convex_piece_34.obj" scale="1.0000E+00 1.0000E+00 1.0000E+00"/>
      </geometry>
      <material name="">
        <color rgba="7.50E-01 7.50E-01 7.50E-01 1"/>
      </material>
    </visual>
    <collision>
      <origin xyz="0 0 0" rpy="0 0 0"/>
      <geometry>
        <mesh filename="Vase_W_Hole_convex_piece_34.obj" scale="1.0000E+00 1.0000E+00 1.0000E+00"/>
      </geometry>
    </collision>
  </link>
  <joint name="link_Vase_W_Hole_convex_piece_34_joint" type="fixed">
    <origin xyz="0 0 0" rpy="0 0 0"/>
    <parent link="link_Vase_W_Hole_convex_piece_33"/>
    <child link="link_Vase_W_Hole_convex_piece_34"/>
  </joint>
  <link name="link_Vase_W_Hole_convex_piece_35">
    <inertial>
      <origin xyz="0 0 0" rpy="0 0 0"/>
      <mass value="1.65E-03"/>
      <inertia ixx="2.20E-06" ixy="1.66E-07" ixz="4.69E-07" iyy="2.08E-06" iyz="-7.14E-07" izz="4.40E-07"/>
    </inertial>
    <visual>
      <origin xyz="0 0 0" rpy="0 0 0"/>
      <geometry>
        <mesh filename="Vase_W_Hole_convex_piece_35.obj" scale="1.0000E+00 1.0000E+00 1.0000E+00"/>
      </geometry>
      <material name="">
        <color rgba="7.50E-01 7.50E-01 7.50E-01 1"/>
      </material>
    </visual>
    <collision>
      <origin xyz="0 0 0" rpy="0 0 0"/>
      <geometry>
        <mesh filename="Vase_W_Hole_convex_piece_35.obj" scale="1.0000E+00 1.0000E+00 1.0000E+00"/>
      </geometry>
    </collision>
  </link>
  <joint name="link_Vase_W_Hole_convex_piece_35_joint" type="fixed">
    <origin xyz="0 0 0" rpy="0 0 0"/>
    <parent link="link_Vase_W_Hole_convex_piece_34"/>
    <child link="link_Vase_W_Hole_convex_piece_35"/>
  </joint>
  <link name="link_Vase_W_Hole_convex_piece_36">
    <inertial>
      <origin xyz="0 0 0" rpy="0 0 0"/>
      <mass value="6.13E-04"/>
      <inertia ixx="7.11E-07" ixy="-3.35E-08" ixz="-2.77E-07" iyy="8.16E-07" iyz="-8.50E-08" izz="1.29E-07"/>
    </inertial>
    <visual>
      <origin xyz="0 0 0" rpy="0 0 0"/>
      <geometry>
        <mesh filename="Vase_W_Hole_convex_piece_36.obj" scale="1.0000E+00 1.0000E+00 1.0000E+00"/>
      </geometry>
      <material name="">
        <color rgba="7.50E-01 7.50E-01 7.50E-01 1"/>
      </material>
    </visual>
    <collision>
      <origin xyz="0 0 0" rpy="0 0 0"/>
      <geometry>
        <mesh filename="Vase_W_Hole_convex_piece_36.obj" scale="1.0000E+00 1.0000E+00 1.0000E+00"/>
      </geometry>
    </collision>
  </link>
  <joint name="link_Vase_W_Hole_convex_piece_36_joint" type="fixed">
    <origin xyz="0 0 0" rpy="0 0 0"/>
    <parent link="link_Vase_W_Hole_convex_piece_35"/>
    <child link="link_Vase_W_Hole_convex_piece_36"/>
  </joint>
  <link name="link_Vase_W_Hole_convex_piece_37">
    <inertial>
      <origin xyz="0 0 0" rpy="0 0 0"/>
      <mass value="1.59E-03"/>
      <inertia ixx="2.13E-06" ixy="-1.65E-07" ixz="-4.64E-07" iyy="2.00E-06" iyz="-6.88E-07" izz="4.27E-07"/>
    </inertial>
    <visual>
      <origin xyz="0 0 0" rpy="0 0 0"/>
      <geometry>
        <mesh filename="Vase_W_Hole_convex_piece_37.obj" scale="1.0000E+00 1.0000E+00 1.0000E+00"/>
      </geometry>
      <material name="">
        <color rgba="7.50E-01 7.50E-01 7.50E-01 1"/>
      </material>
    </visual>
    <collision>
      <origin xyz="0 0 0" rpy="0 0 0"/>
      <geometry>
        <mesh filename="Vase_W_Hole_convex_piece_37.obj" scale="1.0000E+00 1.0000E+00 1.0000E+00"/>
      </geometry>
    </collision>
  </link>
  <joint name="link_Vase_W_Hole_convex_piece_37_joint" type="fixed">
    <origin xyz="0 0 0" rpy="0 0 0"/>
    <parent link="link_Vase_W_Hole_convex_piece_36"/>
    <child link="link_Vase_W_Hole_convex_piece_37"/>
  </joint>
  <link name="link_Vase_W_Hole_convex_piece_38">
    <inertial>
      <origin xyz="0 0 0" rpy="0 0 0"/>
      <mass value="1.13E-03"/>
      <inertia ixx="7.83E-07" ixy="-4.27E-10" ixz="2.83E-07" iyy="8.14E-07" iyz="1.18E-09" izz="2.59E-07"/>
    </inertial>
    <visual>
      <origin xyz="0 0 0" rpy="0 0 0"/>
      <geometry>
        <mesh filename="Vase_W_Hole_convex_piece_38.obj" scale="1.0000E+00 1.0000E+00 1.0000E+00"/>
      </geometry>
      <material name="">
        <color rgba="7.50E-01 7.50E-01 7.50E-01 1"/>
      </material>
    </visual>
    <collision>
      <origin xyz="0 0 0" rpy="0 0 0"/>
      <geometry>
        <mesh filename="Vase_W_Hole_convex_piece_38.obj" scale="1.0000E+00 1.0000E+00 1.0000E+00"/>
      </geometry>
    </collision>
  </link>
  <joint name="link_Vase_W_Hole_convex_piece_38_joint" type="fixed">
    <origin xyz="0 0 0" rpy="0 0 0"/>
    <parent link="link_Vase_W_Hole_convex_piece_37"/>
    <child link="link_Vase_W_Hole_convex_piece_38"/>
  </joint>
  <link name="link_Vase_W_Hole_convex_piece_39">
    <inertial>
      <origin xyz="0 0 0" rpy="0 0 0"/>
      <mass value="1.29E-06"/>
      <inertia ixx="5.73E-10" ixy="1.84E-11" ixz="5.82E-10" iyy="1.16E-09" iyz="-1.83E-11" izz="5.99E-10"/>
    </inertial>
    <visual>
      <origin xyz="0 0 0" rpy="0 0 0"/>
      <geometry>
        <mesh filename="Vase_W_Hole_convex_piece_39.obj" scale="1.0000E+00 1.0000E+00 1.0000E+00"/>
      </geometry>
      <material name="">
        <color rgba="7.50E-01 7.50E-01 7.50E-01 1"/>
      </material>
    </visual>
    <collision>
      <origin xyz="0 0 0" rpy="0 0 0"/>
      <geometry>
        <mesh filename="Vase_W_Hole_convex_piece_39.obj" scale="1.0000E+00 1.0000E+00 1.0000E+00"/>
      </geometry>
    </collision>
  </link>
  <joint name="link_Vase_W_Hole_convex_piece_39_joint" type="fixed">
    <origin xyz="0 0 0" rpy="0 0 0"/>
    <parent link="link_Vase_W_Hole_convex_piece_38"/>
    <child link="link_Vase_W_Hole_convex_piece_39"/>
  </joint>
  <link name="link_Vase_W_Hole_convex_piece_40">
    <inertial>
      <origin xyz="0 0 0" rpy="0 0 0"/>
      <mass value="6.08E-06"/>
      <inertia ixx="1.69E-09" ixy="-1.47E-10" ixz="-2.20E-09" iyy="4.60E-09" iyz="-1.10E-10" izz="3.01E-09"/>
    </inertial>
    <visual>
      <origin xyz="0 0 0" rpy="0 0 0"/>
      <geometry>
        <mesh filename="Vase_W_Hole_convex_piece_40.obj" scale="1.0000E+00 1.0000E+00 1.0000E+00"/>
      </geometry>
      <material name="">
        <color rgba="7.50E-01 7.50E-01 7.50E-01 1"/>
      </material>
    </visual>
    <collision>
      <origin xyz="0 0 0" rpy="0 0 0"/>
      <geometry>
        <mesh filename="Vase_W_Hole_convex_piece_40.obj" scale="1.0000E+00 1.0000E+00 1.0000E+00"/>
      </geometry>
    </collision>
  </link>
  <joint name="link_Vase_W_Hole_convex_piece_40_joint" type="fixed">
    <origin xyz="0 0 0" rpy="0 0 0"/>
    <parent link="link_Vase_W_Hole_convex_piece_39"/>
    <child link="link_Vase_W_Hole_convex_piece_40"/>
  </joint>
  <link name="link_Vase_W_Hole_convex_piece_41">
    <inertial>
      <origin xyz="0 0 0" rpy="0 0 0"/>
      <mass value="2.54E-06"/>
      <inertia ixx="9.18E-10" ixy="-9.76E-12" ixz="9.43E-10" iyy="1.89E-09" iyz="9.74E-12" izz="1.01E-09"/>
    </inertial>
    <visual>
      <origin xyz="0 0 0" rpy="0 0 0"/>
      <geometry>
        <mesh filename="Vase_W_Hole_convex_piece_41.obj" scale="1.0000E+00 1.0000E+00 1.0000E+00"/>
      </geometry>
      <material name="">
        <color rgba="7.50E-01 7.50E-01 7.50E-01 1"/>
      </material>
    </visual>
    <collision>
      <origin xyz="0 0 0" rpy="0 0 0"/>
      <geometry>
        <mesh filename="Vase_W_Hole_convex_piece_41.obj" scale="1.0000E+00 1.0000E+00 1.0000E+00"/>
      </geometry>
    </collision>
  </link>
  <joint name="link_Vase_W_Hole_convex_piece_41_joint" type="fixed">
    <origin xyz="0 0 0" rpy="0 0 0"/>
    <parent link="link_Vase_W_Hole_convex_piece_40"/>
    <child link="link_Vase_W_Hole_convex_piece_41"/>
  </joint>
  <link name="link_Vase_W_Hole_convex_piece_42">
    <inertial>
      <origin xyz="0 0 0" rpy="0 0 0"/>
      <mass value="8.85E-07"/>
      <inertia ixx="4.03E-10" ixy="2.38E-11" ixz="-3.42E-10" iyy="6.91E-10" iyz="2.73E-11" izz="3.01E-10"/>
    </inertial>
    <visual>
      <origin xyz="0 0 0" rpy="0 0 0"/>
      <geometry>
        <mesh filename="Vase_W_Hole_convex_piece_42.obj" scale="1.0000E+00 1.0000E+00 1.0000E+00"/>
      </geometry>
      <material name="">
        <color rgba="7.50E-01 7.50E-01 7.50E-01 1"/>
      </material>
    </visual>
    <collision>
      <origin xyz="0 0 0" rpy="0 0 0"/>
      <geometry>
        <mesh filename="Vase_W_Hole_convex_piece_42.obj" scale="1.0000E+00 1.0000E+00 1.0000E+00"/>
      </geometry>
    </collision>
  </link>
  <joint name="link_Vase_W_Hole_convex_piece_42_joint" type="fixed">
    <origin xyz="0 0 0" rpy="0 0 0"/>
    <parent link="link_Vase_W_Hole_convex_piece_41"/>
    <child link="link_Vase_W_Hole_convex_piece_42"/>
  </joint>
  <link name="link_Vase_W_Hole_convex_piece_43">
    <inertial>
      <origin xyz="0 0 0" rpy="0 0 0"/>
      <mass value="6.96E-05"/>
      <inertia ixx="1.07E-07" ixy="8.42E-10" ixz="1.29E-09" iyy="7.53E-08" iyz="-4.91E-08" izz="3.33E-08"/>
    </inertial>
    <visual>
      <origin xyz="0 0 0" rpy="0 0 0"/>
      <geometry>
        <mesh filename="Vase_W_Hole_convex_piece_43.obj" scale="1.0000E+00 1.0000E+00 1.0000E+00"/>
      </geometry>
      <material name="">
        <color rgba="7.50E-01 7.50E-01 7.50E-01 1"/>
      </material>
    </visual>
    <collision>
      <origin xyz="0 0 0" rpy="0 0 0"/>
      <geometry>
        <mesh filename="Vase_W_Hole_convex_piece_43.obj" scale="1.0000E+00 1.0000E+00 1.0000E+00"/>
      </geometry>
    </collision>
  </link>
  <joint name="link_Vase_W_Hole_convex_piece_43_joint" type="fixed">
    <origin xyz="0 0 0" rpy="0 0 0"/>
    <parent link="link_Vase_W_Hole_convex_piece_42"/>
    <child link="link_Vase_W_Hole_convex_piece_43"/>
  </joint>
  <link name="link_Vase_W_Hole_convex_piece_44">
    <inertial>
      <origin xyz="0 0 0" rpy="0 0 0"/>
      <mass value="1.48E-07"/>
      <inertia ixx="1.43E-10" ixy="-2.01E-12" ixz="2.23E-12" iyy="7.92E-11" iyz="7.12E-11" izz="6.44E-11"/>
    </inertial>
    <visual>
      <origin xyz="0 0 0" rpy="0 0 0"/>
      <geometry>
        <mesh filename="Vase_W_Hole_convex_piece_44.obj" scale="1.0000E+00 1.0000E+00 1.0000E+00"/>
      </geometry>
      <material name="">
        <color rgba="7.50E-01 7.50E-01 7.50E-01 1"/>
      </material>
    </visual>
    <collision>
      <origin xyz="0 0 0" rpy="0 0 0"/>
      <geometry>
        <mesh filename="Vase_W_Hole_convex_piece_44.obj" scale="1.0000E+00 1.0000E+00 1.0000E+00"/>
      </geometry>
    </collision>
  </link>
  <joint name="link_Vase_W_Hole_convex_piece_44_joint" type="fixed">
    <origin xyz="0 0 0" rpy="0 0 0"/>
    <parent link="link_Vase_W_Hole_convex_piece_43"/>
    <child link="link_Vase_W_Hole_convex_piece_44"/>
  </joint>
  <link name="link_Vase_W_Hole_convex_piece_45">
    <inertial>
      <origin xyz="0 0 0" rpy="0 0 0"/>
      <mass value="2.75E-06"/>
      <inertia ixx="2.47E-09" ixy="-4.95E-11" ixz="5.05E-11" iyy="1.29E-09" iyz="1.23E-09" izz="1.22E-09"/>
    </inertial>
    <visual>
      <origin xyz="0 0 0" rpy="0 0 0"/>
      <geometry>
        <mesh filename="Vase_W_Hole_convex_piece_45.obj" scale="1.0000E+00 1.0000E+00 1.0000E+00"/>
      </geometry>
      <material name="">
        <color rgba="7.50E-01 7.50E-01 7.50E-01 1"/>
      </material>
    </visual>
    <collision>
      <origin xyz="0 0 0" rpy="0 0 0"/>
      <geometry>
        <mesh filename="Vase_W_Hole_convex_piece_45.obj" scale="1.0000E+00 1.0000E+00 1.0000E+00"/>
      </geometry>
    </collision>
  </link>
  <joint name="link_Vase_W_Hole_convex_piece_45_joint" type="fixed">
    <origin xyz="0 0 0" rpy="0 0 0"/>
    <parent link="link_Vase_W_Hole_convex_piece_44"/>
    <child link="link_Vase_W_Hole_convex_piece_45"/>
  </joint>
  <link name="link_Vase_W_Hole_convex_piece_46">
    <inertial>
      <origin xyz="0 0 0" rpy="0 0 0"/>
      <mass value="5.09E-06"/>
      <inertia ixx="3.85E-09" ixy="5.19E-11" ixz="3.97E-11" iyy="1.43E-09" iyz="-1.85E-09" izz="2.52E-09"/>
    </inertial>
    <visual>
      <origin xyz="0 0 0" rpy="0 0 0"/>
      <geometry>
        <mesh filename="Vase_W_Hole_convex_piece_46.obj" scale="1.0000E+00 1.0000E+00 1.0000E+00"/>
      </geometry>
      <material name="">
        <color rgba="7.50E-01 7.50E-01 7.50E-01 1"/>
      </material>
    </visual>
    <collision>
      <origin xyz="0 0 0" rpy="0 0 0"/>
      <geometry>
        <mesh filename="Vase_W_Hole_convex_piece_46.obj" scale="1.0000E+00 1.0000E+00 1.0000E+00"/>
      </geometry>
    </collision>
  </link>
  <joint name="link_Vase_W_Hole_convex_piece_46_joint" type="fixed">
    <origin xyz="0 0 0" rpy="0 0 0"/>
    <parent link="link_Vase_W_Hole_convex_piece_45"/>
    <child link="link_Vase_W_Hole_convex_piece_46"/>
  </joint>
  <link name="link_Vase_W_Hole_convex_piece_47">
    <inertial>
      <origin xyz="0 0 0" rpy="0 0 0"/>
      <mass value="2.74E-06"/>
      <inertia ixx="9.68E-10" ixy="3.88E-11" ixz="-1.02E-09" iyy="2.04E-09" iyz="3.61E-11" izz="1.10E-09"/>
    </inertial>
    <visual>
      <origin xyz="0 0 0" rpy="0 0 0"/>
      <geometry>
        <mesh filename="Vase_W_Hole_convex_piece_47.obj" scale="1.0000E+00 1.0000E+00 1.0000E+00"/>
      </geometry>
      <material name="">
        <color rgba="7.50E-01 7.50E-01 7.50E-01 1"/>
      </material>
    </visual>
    <collision>
      <origin xyz="0 0 0" rpy="0 0 0"/>
      <geometry>
        <mesh filename="Vase_W_Hole_convex_piece_47.obj" scale="1.0000E+00 1.0000E+00 1.0000E+00"/>
      </geometry>
    </collision>
  </link>
  <joint name="link_Vase_W_Hole_convex_piece_47_joint" type="fixed">
    <origin xyz="0 0 0" rpy="0 0 0"/>
    <parent link="link_Vase_W_Hole_convex_piece_46"/>
    <child link="link_Vase_W_Hole_convex_piece_47"/>
  </joint>
  <link name="link_Vase_W_Hole_convex_piece_48">
    <inertial>
      <origin xyz="0 0 0" rpy="0 0 0"/>
      <mass value="2.16E-06"/>
      <inertia ixx="9.56E-10" ixy="1.99E-12" ixz="8.41E-10" iyy="1.69E-09" iyz="-2.36E-12" izz="7.52E-10"/>
    </inertial>
    <visual>
      <origin xyz="0 0 0" rpy="0 0 0"/>
      <geometry>
        <mesh filename="Vase_W_Hole_convex_piece_48.obj" scale="1.0000E+00 1.0000E+00 1.0000E+00"/>
      </geometry>
      <material name="">
        <color rgba="7.50E-01 7.50E-01 7.50E-01 1"/>
      </material>
    </visual>
    <collision>
      <origin xyz="0 0 0" rpy="0 0 0"/>
      <geometry>
        <mesh filename="Vase_W_Hole_convex_piece_48.obj" scale="1.0000E+00 1.0000E+00 1.0000E+00"/>
      </geometry>
    </collision>
  </link>
  <joint name="link_Vase_W_Hole_convex_piece_48_joint" type="fixed">
    <origin xyz="0 0 0" rpy="0 0 0"/>
    <parent link="link_Vase_W_Hole_convex_piece_47"/>
    <child link="link_Vase_W_Hole_convex_piece_48"/>
  </joint>
  <link name="link_Vase_W_Hole_convex_piece_49">
    <inertial>
      <origin xyz="0 0 0" rpy="0 0 0"/>
      <mass value="5.17E-04"/>
      <inertia ixx="4.23E-07" ixy="1.65E-10" ixz="1.81E-10" iyy="3.61E-07" iyz="-1.69E-07" izz="1.16E-07"/>
    </inertial>
    <visual>
      <origin xyz="0 0 0" rpy="0 0 0"/>
      <geometry>
        <mesh filename="Vase_W_Hole_convex_piece_49.obj" scale="1.0000E+00 1.0000E+00 1.0000E+00"/>
      </geometry>
      <material name="">
        <color rgba="7.50E-01 7.50E-01 7.50E-01 1"/>
      </material>
    </visual>
    <collision>
      <origin xyz="0 0 0" rpy="0 0 0"/>
      <geometry>
        <mesh filename="Vase_W_Hole_convex_piece_49.obj" scale="1.0000E+00 1.0000E+00 1.0000E+00"/>
      </geometry>
    </collision>
  </link>
  <joint name="link_Vase_W_Hole_convex_piece_49_joint" type="fixed">
    <origin xyz="0 0 0" rpy="0 0 0"/>
    <parent link="link_Vase_W_Hole_convex_piece_48"/>
    <child link="link_Vase_W_Hole_convex_piece_49"/>
  </joint>
  <link name="link_Vase_W_Hole_convex_piece_50">
    <inertial>
      <origin xyz="0 0 0" rpy="0 0 0"/>
      <mass value="7.16E-05"/>
      <inertia ixx="7.75E-08" ixy="5.67E-10" ixz="-5.05E-08" iyy="1.10E-07" iyz="8.92E-10" izz="3.43E-08"/>
    </inertial>
    <visual>
      <origin xyz="0 0 0" rpy="0 0 0"/>
      <geometry>
        <mesh filename="Vase_W_Hole_convex_piece_50.obj" scale="1.0000E+00 1.0000E+00 1.0000E+00"/>
      </geometry>
      <material name="">
        <color rgba="7.50E-01 7.50E-01 7.50E-01 1"/>
      </material>
    </visual>
    <collision>
      <origin xyz="0 0 0" rpy="0 0 0"/>
      <geometry>
        <mesh filename="Vase_W_Hole_convex_piece_50.obj" scale="1.0000E+00 1.0000E+00 1.0000E+00"/>
      </geometry>
    </collision>
  </link>
  <joint name="link_Vase_W_Hole_convex_piece_50_joint" type="fixed">
    <origin xyz="0 0 0" rpy="0 0 0"/>
    <parent link="link_Vase_W_Hole_convex_piece_49"/>
    <child link="link_Vase_W_Hole_convex_piece_50"/>
  </joint>
  <link name="link_Vase_W_Hole_convex_piece_51">
    <inertial>
      <origin xyz="0 0 0" rpy="0 0 0"/>
      <mass value="3.06E-06"/>
      <inertia ixx="1.79E-09" ixy="5.41E-11" ixz="1.51E-09" iyy="3.06E-09" iyz="-6.32E-11" izz="1.30E-09"/>
    </inertial>
    <visual>
      <origin xyz="0 0 0" rpy="0 0 0"/>
      <geometry>
        <mesh filename="Vase_W_Hole_convex_piece_51.obj" scale="1.0000E+00 1.0000E+00 1.0000E+00"/>
      </geometry>
      <material name="">
        <color rgba="7.50E-01 7.50E-01 7.50E-01 1"/>
      </material>
    </visual>
    <collision>
      <origin xyz="0 0 0" rpy="0 0 0"/>
      <geometry>
        <mesh filename="Vase_W_Hole_convex_piece_51.obj" scale="1.0000E+00 1.0000E+00 1.0000E+00"/>
      </geometry>
    </collision>
  </link>
  <joint name="link_Vase_W_Hole_convex_piece_51_joint" type="fixed">
    <origin xyz="0 0 0" rpy="0 0 0"/>
    <parent link="link_Vase_W_Hole_convex_piece_50"/>
    <child link="link_Vase_W_Hole_convex_piece_51"/>
  </joint>
  <link name="link_Vase_W_Hole_convex_piece_52">
    <inertial>
      <origin xyz="0 0 0" rpy="0 0 0"/>
      <mass value="1.58E-06"/>
      <inertia ixx="1.41E-09" ixy="-4.89E-12" ixz="4.86E-12" iyy="7.00E-10" iyz="7.06E-10" izz="7.23E-10"/>
    </inertial>
    <visual>
      <origin xyz="0 0 0" rpy="0 0 0"/>
      <geometry>
        <mesh filename="Vase_W_Hole_convex_piece_52.obj" scale="1.0000E+00 1.0000E+00 1.0000E+00"/>
      </geometry>
      <material name="">
        <color rgba="7.50E-01 7.50E-01 7.50E-01 1"/>
      </material>
    </visual>
    <collision>
      <origin xyz="0 0 0" rpy="0 0 0"/>
      <geometry>
        <mesh filename="Vase_W_Hole_convex_piece_52.obj" scale="1.0000E+00 1.0000E+00 1.0000E+00"/>
      </geometry>
    </collision>
  </link>
  <joint name="link_Vase_W_Hole_convex_piece_52_joint" type="fixed">
    <origin xyz="0 0 0" rpy="0 0 0"/>
    <parent link="link_Vase_W_Hole_convex_piece_51"/>
    <child link="link_Vase_W_Hole_convex_piece_52"/>
  </joint>
  <link name="link_Vase_W_Hole_convex_piece_53">
    <inertial>
      <origin xyz="0 0 0" rpy="0 0 0"/>
      <mass value="2.06E-02"/>
      <inertia ixx="8.24E-06" ixy="-4.45E-06" ixz="1.31E-09" iyy="8.31E-06" iyz="2.40E-10" izz="1.40E-05"/>
    </inertial>
    <visual>
      <origin xyz="0 0 0" rpy="0 0 0"/>
      <geometry>
        <mesh filename="Vase_W_Hole_convex_piece_53.obj" scale="1.0000E+00 1.0000E+00 1.0000E+00"/>
      </geometry>
      <material name="">
        <color rgba="7.50E-01 7.50E-01 7.50E-01 1"/>
      </material>
    </visual>
    <collision>
      <origin xyz="0 0 0" rpy="0 0 0"/>
      <geometry>
        <mesh filename="Vase_W_Hole_convex_piece_53.obj" scale="1.0000E+00 1.0000E+00 1.0000E+00"/>
      </geometry>
    </collision>
  </link>
  <joint name="link_Vase_W_Hole_convex_piece_53_joint" type="fixed">
    <origin xyz="0 0 0" rpy="0 0 0"/>
    <parent link="link_Vase_W_Hole_convex_piece_52"/>
    <child link="link_Vase_W_Hole_convex_piece_53"/>
  </joint>
  <link name="link_Vase_W_Hole_convex_piece_54">
    <inertial>
      <origin xyz="0 0 0" rpy="0 0 0"/>
      <mass value="2.06E-02"/>
      <inertia ixx="8.23E-06" ixy="4.45E-06" ixz="-1.36E-09" iyy="8.30E-06" iyz="2.24E-10" izz="1.40E-05"/>
    </inertial>
    <visual>
      <origin xyz="0 0 0" rpy="0 0 0"/>
      <geometry>
        <mesh filename="Vase_W_Hole_convex_piece_54.obj" scale="1.0000E+00 1.0000E+00 1.0000E+00"/>
      </geometry>
      <material name="">
        <color rgba="7.50E-01 7.50E-01 7.50E-01 1"/>
      </material>
    </visual>
    <collision>
      <origin xyz="0 0 0" rpy="0 0 0"/>
      <geometry>
        <mesh filename="Vase_W_Hole_convex_piece_54.obj" scale="1.0000E+00 1.0000E+00 1.0000E+00"/>
      </geometry>
    </collision>
  </link>
  <joint name="link_Vase_W_Hole_convex_piece_54_joint" type="fixed">
    <origin xyz="0 0 0" rpy="0 0 0"/>
    <parent link="link_Vase_W_Hole_convex_piece_53"/>
    <child link="link_Vase_W_Hole_convex_piece_54"/>
  </joint>
  <link name="link_Vase_W_Hole_convex_piece_55">
    <inertial>
      <origin xyz="0 0 0" rpy="0 0 0"/>
      <mass value="2.09E-02"/>
      <inertia ixx="8.63E-06" ixy="4.44E-06" ixz="-5.78E-10" iyy="8.17E-06" iyz="-4.62E-09" izz="1.42E-05"/>
    </inertial>
    <visual>
      <origin xyz="0 0 0" rpy="0 0 0"/>
      <geometry>
        <mesh filename="Vase_W_Hole_convex_piece_55.obj" scale="1.0000E+00 1.0000E+00 1.0000E+00"/>
      </geometry>
      <material name="">
        <color rgba="7.50E-01 7.50E-01 7.50E-01 1"/>
      </material>
    </visual>
    <collision>
      <origin xyz="0 0 0" rpy="0 0 0"/>
      <geometry>
        <mesh filename="Vase_W_Hole_convex_piece_55.obj" scale="1.0000E+00 1.0000E+00 1.0000E+00"/>
      </geometry>
    </collision>
  </link>
  <joint name="link_Vase_W_Hole_convex_piece_55_joint" type="fixed">
    <origin xyz="0 0 0" rpy="0 0 0"/>
    <parent link="link_Vase_W_Hole_convex_piece_54"/>
    <child link="link_Vase_W_Hole_convex_piece_55"/>
  </joint>
  <link name="link_Vase_W_Hole_convex_piece_56">
    <inertial>
      <origin xyz="0 0 0" rpy="0 0 0"/>
      <mass value="1.93E-02"/>
      <inertia ixx="7.69E-06" ixy="-4.43E-06" ixz="-3.33E-10" iyy="8.04E-06" iyz="-7.36E-10" izz="1.34E-05"/>
    </inertial>
    <visual>
      <origin xyz="0 0 0" rpy="0 0 0"/>
      <geometry>
        <mesh filename="Vase_W_Hole_convex_piece_56.obj" scale="1.0000E+00 1.0000E+00 1.0000E+00"/>
      </geometry>
      <material name="">
        <color rgba="7.50E-01 7.50E-01 7.50E-01 1"/>
      </material>
    </visual>
    <collision>
      <origin xyz="0 0 0" rpy="0 0 0"/>
      <geometry>
        <mesh filename="Vase_W_Hole_convex_piece_56.obj" scale="1.0000E+00 1.0000E+00 1.0000E+00"/>
      </geometry>
    </collision>
  </link>
  <joint name="link_Vase_W_Hole_convex_piece_56_joint" type="fixed">
    <origin xyz="0 0 0" rpy="0 0 0"/>
    <parent link="link_Vase_W_Hole_convex_piece_55"/>
    <child link="link_Vase_W_Hole_convex_piece_56"/>
  </joint>
  <link name="link_Vase_W_Hole_convex_piece_57">
    <inertial>
      <origin xyz="0 0 0" rpy="0 0 0"/>
      <mass value="2.98E-06"/>
      <inertia ixx="8.33E-10" ixy="-3.82E-11" ixz="1.08E-09" iyy="2.26E-09" iyz="2.88E-11" izz="1.48E-09"/>
    </inertial>
    <visual>
      <origin xyz="0 0 0" rpy="0 0 0"/>
      <geometry>
        <mesh filename="Vase_W_Hole_convex_piece_57.obj" scale="1.0000E+00 1.0000E+00 1.0000E+00"/>
      </geometry>
      <material name="">
        <color rgba="7.50E-01 7.50E-01 7.50E-01 1"/>
      </material>
    </visual>
    <collision>
      <origin xyz="0 0 0" rpy="0 0 0"/>
      <geometry>
        <mesh filename="Vase_W_Hole_convex_piece_57.obj" scale="1.0000E+00 1.0000E+00 1.0000E+00"/>
      </geometry>
    </collision>
  </link>
  <joint name="link_Vase_W_Hole_convex_piece_57_joint" type="fixed">
    <origin xyz="0 0 0" rpy="0 0 0"/>
    <parent link="link_Vase_W_Hole_convex_piece_56"/>
    <child link="link_Vase_W_Hole_convex_piece_57"/>
  </joint>
  <link name="link_Vase_W_Hole_convex_piece_58">
    <inertial>
      <origin xyz="0 0 0" rpy="0 0 0"/>
      <mass value="3.20E-06"/>
      <inertia ixx="2.39E-09" ixy="8.04E-11" ixz="-7.67E-11" iyy="1.15E-09" iyz="1.19E-09" izz="1.28E-09"/>
    </inertial>
    <visual>
      <origin xyz="0 0 0" rpy="0 0 0"/>
      <geometry>
        <mesh filename="Vase_W_Hole_convex_piece_58.obj" scale="1.0000E+00 1.0000E+00 1.0000E+00"/>
      </geometry>
      <material name="">
        <color rgba="7.50E-01 7.50E-01 7.50E-01 1"/>
      </material>
    </visual>
    <collision>
      <origin xyz="0 0 0" rpy="0 0 0"/>
      <geometry>
        <mesh filename="Vase_W_Hole_convex_piece_58.obj" scale="1.0000E+00 1.0000E+00 1.0000E+00"/>
      </geometry>
    </collision>
  </link>
  <joint name="link_Vase_W_Hole_convex_piece_58_joint" type="fixed">
    <origin xyz="0 0 0" rpy="0 0 0"/>
    <parent link="link_Vase_W_Hole_convex_piece_57"/>
    <child link="link_Vase_W_Hole_convex_piece_58"/>
  </joint>
  <link name="link_Vase_W_Hole_convex_piece_59">
    <inertial>
      <origin xyz="0 0 0" rpy="0 0 0"/>
      <mass value="2.02E-06"/>
      <inertia ixx="8.94E-10" ixy="8.48E-12" ixz="-7.89E-10" iyy="1.59E-09" iyz="9.38E-12" izz="7.08E-10"/>
    </inertial>
    <visual>
      <origin xyz="0 0 0" rpy="0 0 0"/>
      <geometry>
        <mesh filename="Vase_W_Hole_convex_piece_59.obj" scale="1.0000E+00 1.0000E+00 1.0000E+00"/>
      </geometry>
      <material name="">
        <color rgba="7.50E-01 7.50E-01 7.50E-01 1"/>
      </material>
    </visual>
    <collision>
      <origin xyz="0 0 0" rpy="0 0 0"/>
      <geometry>
        <mesh filename="Vase_W_Hole_convex_piece_59.obj" scale="1.0000E+00 1.0000E+00 1.0000E+00"/>
      </geometry>
    </collision>
  </link>
  <joint name="link_Vase_W_Hole_convex_piece_59_joint" type="fixed">
    <origin xyz="0 0 0" rpy="0 0 0"/>
    <parent link="link_Vase_W_Hole_convex_piece_58"/>
    <child link="link_Vase_W_Hole_convex_piece_59"/>
  </joint>
  <link name="link_Vase_W_Hole_convex_piece_60">
    <inertial>
      <origin xyz="0 0 0" rpy="0 0 0"/>
      <mass value="1.72E-07"/>
      <inertia ixx="1.24E-10" ixy="1.29E-12" ixz="-8.42E-11" iyy="1.81E-10" iyz="1.90E-12" izz="5.76E-11"/>
    </inertial>
    <visual>
      <origin xyz="0 0 0" rpy="0 0 0"/>
      <geometry>
        <mesh filename="Vase_W_Hole_convex_piece_60.obj" scale="1.0000E+00 1.0000E+00 1.0000E+00"/>
      </geometry>
      <material name="">
        <color rgba="7.50E-01 7.50E-01 7.50E-01 1"/>
      </material>
    </visual>
    <collision>
      <origin xyz="0 0 0" rpy="0 0 0"/>
      <geometry>
        <mesh filename="Vase_W_Hole_convex_piece_60.obj" scale="1.0000E+00 1.0000E+00 1.0000E+00"/>
      </geometry>
    </collision>
  </link>
  <joint name="link_Vase_W_Hole_convex_piece_60_joint" type="fixed">
    <origin xyz="0 0 0" rpy="0 0 0"/>
    <parent link="link_Vase_W_Hole_convex_piece_59"/>
    <child link="link_Vase_W_Hole_convex_piece_60"/>
  </joint>
  <link name="link_Vase_W_Hole_convex_piece_61">
    <inertial>
      <origin xyz="0 0 0" rpy="0 0 0"/>
      <mass value="2.29E-04"/>
      <inertia ixx="3.89E-07" ixy="2.60E-10" ixz="-4.91E-10" iyy="3.01E-07" iyz="1.66E-07" izz="9.85E-08"/>
    </inertial>
    <visual>
      <origin xyz="0 0 0" rpy="0 0 0"/>
      <geometry>
        <mesh filename="Vase_W_Hole_convex_piece_61.obj" scale="1.0000E+00 1.0000E+00 1.0000E+00"/>
      </geometry>
      <material name="">
        <color rgba="7.50E-01 7.50E-01 7.50E-01 1"/>
      </material>
    </visual>
    <collision>
      <origin xyz="0 0 0" rpy="0 0 0"/>
      <geometry>
        <mesh filename="Vase_W_Hole_convex_piece_61.obj" scale="1.0000E+00 1.0000E+00 1.0000E+00"/>
      </geometry>
    </collision>
  </link>
  <joint name="link_Vase_W_Hole_convex_piece_61_joint" type="fixed">
    <origin xyz="0 0 0" rpy="0 0 0"/>
    <parent link="link_Vase_W_Hole_convex_piece_60"/>
    <child link="link_Vase_W_Hole_convex_piece_61"/>
  </joint>
  <link name="link_Vase_W_Hole_convex_piece_62">
    <inertial>
      <origin xyz="0 0 0" rpy="0 0 0"/>
      <mass value="7.54E-05"/>
      <inertia ixx="8.18E-08" ixy="7.22E-11" ixz="5.34E-08" iyy="1.16E-07" iyz="-1.10E-10" izz="3.62E-08"/>
    </inertial>
    <visual>
      <origin xyz="0 0 0" rpy="0 0 0"/>
      <geometry>
        <mesh filename="Vase_W_Hole_convex_piece_62.obj" scale="1.0000E+00 1.0000E+00 1.0000E+00"/>
      </geometry>
      <material name="">
        <color rgba="7.50E-01 7.50E-01 7.50E-01 1"/>
      </material>
    </visual>
    <collision>
      <origin xyz="0 0 0" rpy="0 0 0"/>
      <geometry>
        <mesh filename="Vase_W_Hole_convex_piece_62.obj" scale="1.0000E+00 1.0000E+00 1.0000E+00"/>
      </geometry>
    </collision>
  </link>
  <joint name="link_Vase_W_Hole_convex_piece_62_joint" type="fixed">
    <origin xyz="0 0 0" rpy="0 0 0"/>
    <parent link="link_Vase_W_Hole_convex_piece_61"/>
    <child link="link_Vase_W_Hole_convex_piece_62"/>
  </joint>
  <link name="link_Vase_W_Hole_convex_piece_63">
    <inertial>
      <origin xyz="0 0 0" rpy="0 0 0"/>
      <mass value="1.74E-07"/>
      <inertia ixx="9.37E-11" ixy="4.26E-13" ixz="-8.42E-11" iyy="1.69E-10" iyz="4.63E-13" izz="7.61E-11"/>
    </inertial>
    <visual>
      <origin xyz="0 0 0" rpy="0 0 0"/>
      <geometry>
        <mesh filename="Vase_W_Hole_convex_piece_63.obj" scale="1.0000E+00 1.0000E+00 1.0000E+00"/>
      </geometry>
      <material name="">
        <color rgba="7.50E-01 7.50E-01 7.50E-01 1"/>
      </material>
    </visual>
    <collision>
      <origin xyz="0 0 0" rpy="0 0 0"/>
      <geometry>
        <mesh filename="Vase_W_Hole_convex_piece_63.obj" scale="1.0000E+00 1.0000E+00 1.0000E+00"/>
      </geometry>
    </collision>
  </link>
  <joint name="link_Vase_W_Hole_convex_piece_63_joint" type="fixed">
    <origin xyz="0 0 0" rpy="0 0 0"/>
    <parent link="link_Vase_W_Hole_convex_piece_62"/>
    <child link="link_Vase_W_Hole_convex_piece_63"/>
  </joint>
  <link name="link_Vase_W_Hole_convex_piece_64">
    <inertial>
      <origin xyz="0 0 0" rpy="0 0 0"/>
      <mass value="1.32E-06"/>
      <inertia ixx="1.19E-09" ixy="-1.58E-11" ixz="-1.56E-11" iyy="5.89E-10" iyz="-5.93E-10" izz="6.06E-10"/>
    </inertial>
    <visual>
      <origin xyz="0 0 0" rpy="0 0 0"/>
      <geometry>
        <mesh filename="Vase_W_Hole_convex_piece_64.obj" scale="1.0000E+00 1.0000E+00 1.0000E+00"/>
      </geometry>
      <material name="">
        <color rgba="7.50E-01 7.50E-01 7.50E-01 1"/>
      </material>
    </visual>
    <collision>
      <origin xyz="0 0 0" rpy="0 0 0"/>
      <geometry>
        <mesh filename="Vase_W_Hole_convex_piece_64.obj" scale="1.0000E+00 1.0000E+00 1.0000E+00"/>
      </geometry>
    </collision>
  </link>
  <joint name="link_Vase_W_Hole_convex_piece_64_joint" type="fixed">
    <origin xyz="0 0 0" rpy="0 0 0"/>
    <parent link="link_Vase_W_Hole_convex_piece_63"/>
    <child link="link_Vase_W_Hole_convex_piece_64"/>
  </joint>
  <link name="link_Vase_W_Hole_convex_piece_65">
    <inertial>
      <origin xyz="0 0 0" rpy="0 0 0"/>
      <mass value="2.48E-03"/>
      <inertia ixx="1.26E-06" ixy="3.43E-10" ixz="4.43E-09" iyy="1.25E-06" iyz="-1.10E-09" izz="6.33E-07"/>
    </inertial>
    <visual>
      <origin xyz="0 0 0" rpy="0 0 0"/>
      <geometry>
        <mesh filename="Vase_W_Hole_convex_piece_65.obj" scale="1.0000E+00 1.0000E+00 1.0000E+00"/>
      </geometry>
      <material name="">
        <color rgba="7.50E-01 7.50E-01 7.50E-01 1"/>
      </material>
    </visual>
    <collision>
      <origin xyz="0 0 0" rpy="0 0 0"/>
      <geometry>
        <mesh filename="Vase_W_Hole_convex_piece_65.obj" scale="1.0000E+00 1.0000E+00 1.0000E+00"/>
      </geometry>
    </collision>
  </link>
  <joint name="link_Vase_W_Hole_convex_piece_65_joint" type="fixed">
    <origin xyz="0 0 0" rpy="0 0 0"/>
    <parent link="link_Vase_W_Hole_convex_piece_64"/>
    <child link="link_Vase_W_Hole_convex_piece_65"/>
  </joint>
  <link name="link_Vase_W_Hole_convex_piece_66">
    <inertial>
      <origin xyz="0 0 0" rpy="0 0 0"/>
      <mass value="3.94E-03"/>
      <inertia ixx="1.74E-06" ixy="-7.88E-10" ixz="-2.59E-09" iyy="1.74E-06" iyz="-5.02E-10" izz="1.23E-06"/>
    </inertial>
    <visual>
      <origin xyz="0 0 0" rpy="0 0 0"/>
      <geometry>
        <mesh filename="Vase_W_Hole_convex_piece_66.obj" scale="1.0000E+00 1.0000E+00 1.0000E+00"/>
      </geometry>
      <material name="">
        <color rgba="7.50E-01 7.50E-01 7.50E-01 1"/>
      </material>
    </visual>
    <collision>
      <origin xyz="0 0 0" rpy="0 0 0"/>
      <geometry>
        <mesh filename="Vase_W_Hole_convex_piece_66.obj" scale="1.0000E+00 1.0000E+00 1.0000E+00"/>
      </geometry>
    </collision>
  </link>
  <joint name="link_Vase_W_Hole_convex_piece_66_joint" type="fixed">
    <origin xyz="0 0 0" rpy="0 0 0"/>
    <parent link="link_Vase_W_Hole_convex_piece_65"/>
    <child link="link_Vase_W_Hole_convex_piece_66"/>
  </joint>
  <link name="link_Vase_W_Hole_convex_piece_67">
    <inertial>
      <origin xyz="0 0 0" rpy="0 0 0"/>
      <mass value="3.76E-06"/>
      <inertia ixx="2.87E-09" ixy="-1.21E-10" ixz="8.82E-11" iyy="1.04E-09" iyz="1.37E-09" izz="1.90E-09"/>
    </inertial>
    <visual>
      <origin xyz="0 0 0" rpy="0 0 0"/>
      <geometry>
        <mesh filename="Vase_W_Hole_convex_piece_67.obj" scale="1.0000E+00 1.0000E+00 1.0000E+00"/>
      </geometry>
      <material name="">
        <color rgba="7.50E-01 7.50E-01 7.50E-01 1"/>
      </material>
    </visual>
    <collision>
      <origin xyz="0 0 0" rpy="0 0 0"/>
      <geometry>
        <mesh filename="Vase_W_Hole_convex_piece_67.obj" scale="1.0000E+00 1.0000E+00 1.0000E+00"/>
      </geometry>
    </collision>
  </link>
  <joint name="link_Vase_W_Hole_convex_piece_67_joint" type="fixed">
    <origin xyz="0 0 0" rpy="0 0 0"/>
    <parent link="link_Vase_W_Hole_convex_piece_66"/>
    <child link="link_Vase_W_Hole_convex_piece_67"/>
  </joint>
  <link name="link_Vase_W_Hole_convex_piece_68">
    <inertial>
      <origin xyz="0 0 0" rpy="0 0 0"/>
      <mass value="3.51E-06"/>
      <inertia ixx="2.61E-09" ixy="-7.62E-11" ixz="-7.20E-11" iyy="1.26E-09" iyz="-1.30E-09" izz="1.40E-09"/>
    </inertial>
    <visual>
      <origin xyz="0 0 0" rpy="0 0 0"/>
      <geometry>
        <mesh filename="Vase_W_Hole_convex_piece_68.obj" scale="1.0000E+00 1.0000E+00 1.0000E+00"/>
      </geometry>
      <material name="">
        <color rgba="7.50E-01 7.50E-01 7.50E-01 1"/>
      </material>
    </visual>
    <collision>
      <origin xyz="0 0 0" rpy="0 0 0"/>
      <geometry>
        <mesh filename="Vase_W_Hole_convex_piece_68.obj" scale="1.0000E+00 1.0000E+00 1.0000E+00"/>
      </geometry>
    </collision>
  </link>
  <joint name="link_Vase_W_Hole_convex_piece_68_joint" type="fixed">
    <origin xyz="0 0 0" rpy="0 0 0"/>
    <parent link="link_Vase_W_Hole_convex_piece_67"/>
    <child link="link_Vase_W_Hole_convex_piece_68"/>
  </joint>
  <link name="link_Vase_W_Hole_convex_piece_69">
    <inertial>
      <origin xyz="0 0 0" rpy="0 0 0"/>
      <mass value="1.82E-06"/>
      <inertia ixx="1.44E-09" ixy="1.70E-11" ixz="-1.94E-11" iyy="8.11E-10" iyz="7.13E-10" izz="6.38E-10"/>
    </inertial>
    <visual>
      <origin xyz="0 0 0" rpy="0 0 0"/>
      <geometry>
        <mesh filename="Vase_W_Hole_convex_piece_69.obj" scale="1.0000E+00 1.0000E+00 1.0000E+00"/>
      </geometry>
      <material name="">
        <color rgba="7.50E-01 7.50E-01 7.50E-01 1"/>
      </material>
    </visual>
    <collision>
      <origin xyz="0 0 0" rpy="0 0 0"/>
      <geometry>
        <mesh filename="Vase_W_Hole_convex_piece_69.obj" scale="1.0000E+00 1.0000E+00 1.0000E+00"/>
      </geometry>
    </collision>
  </link>
  <joint name="link_Vase_W_Hole_convex_piece_69_joint" type="fixed">
    <origin xyz="0 0 0" rpy="0 0 0"/>
    <parent link="link_Vase_W_Hole_convex_piece_68"/>
    <child link="link_Vase_W_Hole_convex_piece_69"/>
  </joint>
  <link name="link_Vase_W_Hole_convex_piece_70">
    <inertial>
      <origin xyz="0 0 0" rpy="0 0 0"/>
      <mass value="1.72E-07"/>
      <inertia ixx="1.24E-10" ixy="-1.29E-12" ixz="8.39E-11" iyy="1.80E-10" iyz="1.90E-12" izz="5.72E-11"/>
    </inertial>
    <visual>
      <origin xyz="0 0 0" rpy="0 0 0"/>
      <geometry>
        <mesh filename="Vase_W_Hole_convex_piece_70.obj" scale="1.0000E+00 1.0000E+00 1.0000E+00"/>
      </geometry>
      <material name="">
        <color rgba="7.50E-01 7.50E-01 7.50E-01 1"/>
      </material>
    </visual>
    <collision>
      <origin xyz="0 0 0" rpy="0 0 0"/>
      <geometry>
        <mesh filename="Vase_W_Hole_convex_piece_70.obj" scale="1.0000E+00 1.0000E+00 1.0000E+00"/>
      </geometry>
    </collision>
  </link>
  <joint name="link_Vase_W_Hole_convex_piece_70_joint" type="fixed">
    <origin xyz="0 0 0" rpy="0 0 0"/>
    <parent link="link_Vase_W_Hole_convex_piece_69"/>
    <child link="link_Vase_W_Hole_convex_piece_70"/>
  </joint>
  <link name="link_Vase_W_Hole_convex_piece_71">
    <inertial>
      <origin xyz="0 0 0" rpy="0 0 0"/>
      <mass value="1.80E-04"/>
      <inertia ixx="2.38E-07" ixy="-3.20E-10" ixz="1.32E-07" iyy="3.09E-07" iyz="6.05E-10" izz="7.90E-08"/>
    </inertial>
    <visual>
      <origin xyz="0 0 0" rpy="0 0 0"/>
      <geometry>
        <mesh filename="Vase_W_Hole_convex_piece_71.obj" scale="1.0000E+00 1.0000E+00 1.0000E+00"/>
      </geometry>
      <material name="">
        <color rgba="7.50E-01 7.50E-01 7.50E-01 1"/>
      </material>
    </visual>
    <collision>
      <origin xyz="0 0 0" rpy="0 0 0"/>
      <geometry>
        <mesh filename="Vase_W_Hole_convex_piece_71.obj" scale="1.0000E+00 1.0000E+00 1.0000E+00"/>
      </geometry>
    </collision>
  </link>
  <joint name="link_Vase_W_Hole_convex_piece_71_joint" type="fixed">
    <origin xyz="0 0 0" rpy="0 0 0"/>
    <parent link="link_Vase_W_Hole_convex_piece_70"/>
    <child link="link_Vase_W_Hole_convex_piece_71"/>
  </joint>
  <link name="link_Vase_W_Hole_convex_piece_72">
    <inertial>
      <origin xyz="0 0 0" rpy="0 0 0"/>
      <mass value="7.34E-05"/>
      <inertia ixx="1.13E-07" ixy="-3.74E-10" ixz="5.62E-10" iyy="7.92E-08" iyz="5.19E-08" izz="3.53E-08"/>
    </inertial>
    <visual>
      <origin xyz="0 0 0" rpy="0 0 0"/>
      <geometry>
        <mesh filename="Vase_W_Hole_convex_piece_72.obj" scale="1.0000E+00 1.0000E+00 1.0000E+00"/>
      </geometry>
      <material name="">
        <color rgba="7.50E-01 7.50E-01 7.50E-01 1"/>
      </material>
    </visual>
    <collision>
      <origin xyz="0 0 0" rpy="0 0 0"/>
      <geometry>
        <mesh filename="Vase_W_Hole_convex_piece_72.obj" scale="1.0000E+00 1.0000E+00 1.0000E+00"/>
      </geometry>
    </collision>
  </link>
  <joint name="link_Vase_W_Hole_convex_piece_72_joint" type="fixed">
    <origin xyz="0 0 0" rpy="0 0 0"/>
    <parent link="link_Vase_W_Hole_convex_piece_71"/>
    <child link="link_Vase_W_Hole_convex_piece_72"/>
  </joint>
  <link name="link_Vase_W_Hole_convex_piece_73">
    <inertial>
      <origin xyz="0 0 0" rpy="0 0 0"/>
      <mass value="2.32E-06"/>
      <inertia ixx="1.83E-09" ixy="-7.21E-12" ixz="-7.98E-12" iyy="1.04E-09" iyz="-9.09E-10" izz="8.09E-10"/>
    </inertial>
    <visual>
      <origin xyz="0 0 0" rpy="0 0 0"/>
      <geometry>
        <mesh filename="Vase_W_Hole_convex_piece_73.obj" scale="1.0000E+00 1.0000E+00 1.0000E+00"/>
      </geometry>
      <material name="">
        <color rgba="7.50E-01 7.50E-01 7.50E-01 1"/>
      </material>
    </visual>
    <collision>
      <origin xyz="0 0 0" rpy="0 0 0"/>
      <geometry>
        <mesh filename="Vase_W_Hole_convex_piece_73.obj" scale="1.0000E+00 1.0000E+00 1.0000E+00"/>
      </geometry>
    </collision>
  </link>
  <joint name="link_Vase_W_Hole_convex_piece_73_joint" type="fixed">
    <origin xyz="0 0 0" rpy="0 0 0"/>
    <parent link="link_Vase_W_Hole_convex_piece_72"/>
    <child link="link_Vase_W_Hole_convex_piece_73"/>
  </joint>
  <link name="link_Vase_W_Hole_convex_piece_74">
    <inertial>
      <origin xyz="0 0 0" rpy="0 0 0"/>
      <mass value="1.49E-07"/>
      <inertia ixx="1.58E-10" ixy="-1.66E-12" ixz="-2.45E-12" iyy="1.08E-10" iyz="-7.33E-11" izz="4.98E-11"/>
    </inertial>
    <visual>
      <origin xyz="0 0 0" rpy="0 0 0"/>
      <geometry>
        <mesh filename="Vase_W_Hole_convex_piece_74.obj" scale="1.0000E+00 1.0000E+00 1.0000E+00"/>
      </geometry>
      <material name="">
        <color rgba="7.50E-01 7.50E-01 7.50E-01 1"/>
      </material>
    </visual>
    <collision>
      <origin xyz="0 0 0" rpy="0 0 0"/>
      <geometry>
        <mesh filename="Vase_W_Hole_convex_piece_74.obj" scale="1.0000E+00 1.0000E+00 1.0000E+00"/>
      </geometry>
    </collision>
  </link>
  <joint name="link_Vase_W_Hole_convex_piece_74_joint" type="fixed">
    <origin xyz="0 0 0" rpy="0 0 0"/>
    <parent link="link_Vase_W_Hole_convex_piece_73"/>
    <child link="link_Vase_W_Hole_convex_piece_74"/>
  </joint>
  <link name="link_Vase_W_Hole_convex_piece_75">
    <inertial>
      <origin xyz="0 0 0" rpy="0 0 0"/>
      <mass value="2.36E-04"/>
      <inertia ixx="3.11E-07" ixy="8.96E-11" ixz="-1.71E-07" iyy="4.02E-07" iyz="1.44E-10" izz="1.02E-07"/>
    </inertial>
    <visual>
      <origin xyz="0 0 0" rpy="0 0 0"/>
      <geometry>
        <mesh filename="Vase_W_Hole_convex_piece_75.obj" scale="1.0000E+00 1.0000E+00 1.0000E+00"/>
      </geometry>
      <material name="">
        <color rgba="7.50E-01 7.50E-01 7.50E-01 1"/>
      </material>
    </visual>
    <collision>
      <origin xyz="0 0 0" rpy="0 0 0"/>
      <geometry>
        <mesh filename="Vase_W_Hole_convex_piece_75.obj" scale="1.0000E+00 1.0000E+00 1.0000E+00"/>
      </geometry>
    </collision>
  </link>
  <joint name="link_Vase_W_Hole_convex_piece_75_joint" type="fixed">
    <origin xyz="0 0 0" rpy="0 0 0"/>
    <parent link="link_Vase_W_Hole_convex_piece_74"/>
    <child link="link_Vase_W_Hole_convex_piece_75"/>
  </joint>
  <link name="link_Vase_W_Hole_convex_piece_76">
    <inertial>
      <origin xyz="0 0 0" rpy="0 0 0"/>
      <mass value="1.96E-04"/>
      <inertia ixx="3.37E-07" ixy="4.40E-10" ixz="8.34E-10" iyy="2.60E-07" iyz="-1.44E-07" izz="8.57E-08"/>
    </inertial>
    <visual>
      <origin xyz="0 0 0" rpy="0 0 0"/>
      <geometry>
        <mesh filename="Vase_W_Hole_convex_piece_76.obj" scale="1.0000E+00 1.0000E+00 1.0000E+00"/>
      </geometry>
      <material name="">
        <color rgba="7.50E-01 7.50E-01 7.50E-01 1"/>
      </material>
    </visual>
    <collision>
      <origin xyz="0 0 0" rpy="0 0 0"/>
      <geometry>
        <mesh filename="Vase_W_Hole_convex_piece_76.obj" scale="1.0000E+00 1.0000E+00 1.0000E+00"/>
      </geometry>
    </collision>
  </link>
  <joint name="link_Vase_W_Hole_convex_piece_76_joint" type="fixed">
    <origin xyz="0 0 0" rpy="0 0 0"/>
    <parent link="link_Vase_W_Hole_convex_piece_75"/>
    <child link="link_Vase_W_Hole_convex_piece_76"/>
  </joint>
</robot>
